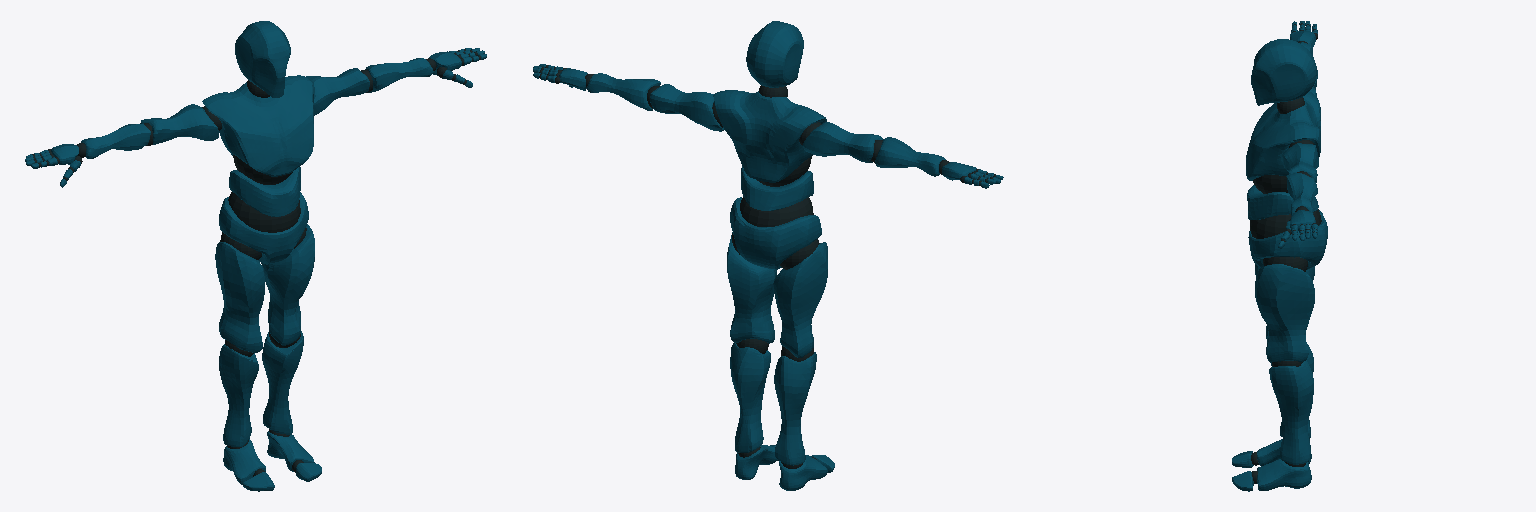
--- Facts derived from the render (not from the file) ---
3 views of the same robot in one strip: view 1: azimuth 30°, elevation 25°; view 2: azimuth 150°, elevation 25°; view 3: azimuth 270°, elevation 25° (orthographic).
Model avatar_ybot with 83 links and 82 joints (38 revolute, 44 fixed), rooted at mixamorig_Hips, posed all joints at 0.
Visible links, largest first — view 1: mixamorig_Spine2, mixamorig_RightUpLeg, mixamorig_LeftUpLeg, mixamorig_Head, mixamorig_RightLeg, mixamorig_Spine1, mixamorig_LeftLeg, mixamorig_Hips, mixamorig_RightArm, mixamorig_LeftArm, mixamorig_RightForeArm, mixamorig_LeftForeArm (+4 smaller); view 2: mixamorig_Spine2, mixamorig_RightUpLeg, mixamorig_LeftUpLeg, mixamorig_LeftLeg, mixamorig_Hips, mixamorig_RightLeg, mixamorig_Head, mixamorig_Spine1, mixamorig_RightArm, mixamorig_LeftArm, mixamorig_RightForeArm, mixamorig_LeftForeArm (+3 smaller); view 3: mixamorig_LeftUpLeg, mixamorig_Spine2, mixamorig_Head, mixamorig_LeftLeg, mixamorig_Hips, mixamorig_Spine1, mixamorig_LeftFoot, mixamorig_LeftArm, mixamorig_LeftForeArm, mixamorig_Spine.
Boxes of the visible links, left/top/right/bottom form: mixamorig_Spine2: left=202, top=75, right=313, bottom=176; mixamorig_RightUpLeg: left=215, top=232, right=264, bottom=352; mixamorig_LeftUpLeg: left=261, top=224, right=314, bottom=345; mixamorig_Head: left=235, top=21, right=290, bottom=97; mixamorig_RightLeg: left=219, top=340, right=258, bottom=446; mixamorig_Spine1: left=229, top=155, right=300, bottom=216; mixamorig_LeftLeg: left=262, top=331, right=303, bottom=434; mixamorig_Hips: left=219, top=192, right=308, bottom=264; mixamorig_RightArm: left=140, top=104, right=218, bottom=144; mixamorig_LeftArm: left=306, top=68, right=369, bottom=115; mixamorig_RightForeArm: left=81, top=123, right=152, bottom=158; mixamorig_LeftForeArm: left=361, top=58, right=433, bottom=92; mixamorig_Spine2: left=713, top=90, right=826, bottom=182; mixamorig_RightUpLeg: left=774, top=239, right=827, bottom=357; mixamorig_LeftUpLeg: left=727, top=232, right=777, bottom=343; mixamorig_LeftLeg: left=730, top=339, right=770, bottom=452; mixamorig_Hips: left=730, top=197, right=821, bottom=268; mixamorig_RightLeg: left=774, top=346, right=816, bottom=465; mixamorig_Head: left=746, top=21, right=803, bottom=87; mixamorig_Spine1: left=741, top=156, right=813, bottom=210; mixamorig_RightArm: left=802, top=122, right=882, bottom=162; mixamorig_LeftArm: left=650, top=84, right=724, bottom=131; mixamorig_RightForeArm: left=871, top=137, right=945, bottom=176; mixamorig_LeftForeArm: left=587, top=73, right=660, bottom=110; mixamorig_LeftUpLeg: left=1255, top=257, right=1314, bottom=362; mixamorig_Spine2: left=1246, top=91, right=1320, bottom=180; mixamorig_Head: left=1251, top=39, right=1316, bottom=105; mixamorig_LeftLeg: left=1269, top=360, right=1313, bottom=464; mixamorig_Hips: left=1248, top=210, right=1327, bottom=269; mixamorig_Spine1: left=1247, top=175, right=1318, bottom=219; mixamorig_LeftFoot: left=1257, top=459, right=1311, bottom=490; mixamorig_LeftArm: left=1282, top=143, right=1318, bottom=182; mixamorig_LeftForeArm: left=1287, top=171, right=1317, bottom=215; mixamorig_Spine: left=1250, top=209, right=1321, bottom=238.
Size in the robot's own frame: 1.95 by 0.3643 by 1.8 metres.
95 mesh visuals loaded from 95 distinct referenced files (95 Collada DAE).

URDF robot description (avatar_ybot):
<?xml version="1.0" ?>
<robot name="avatar_ybot">
  <joint name="mixamorig_Spine" type="fixed">
    <parent link="mixamorig_Hips"/>
    <child link="mixamorig_Spine"/>
    <origin xyz="0      0.0098  1.09595" rpy="1.57079 0      0"/>
    <axis xyz="0 0 1"/>
    <limit lower="-0.17453292519943295" upper="0.17453292519943295" effort="0.0" velocity="0.0"/>
  </joint>
  <joint name="mixamorig_Spine1" type="fixed">
    <parent link="mixamorig_Spine"/>
    <child link="mixamorig_Spine1"/>
    <origin xyz="0       0.11645 -0.01422" rpy="0 0 0"/>
    <axis xyz="0 0 1"/>
    <limit lower="-0.17453292519943295" upper="0.17453292519943295" effort="0.0" velocity="0.0"/>
  </joint>
  <joint name="mixamorig_Spine2" type="fixed">
    <parent link="mixamorig_Spine1"/>
    <child link="mixamorig_Spine2"/>
    <origin xyz="0       0.1336  -0.01626" rpy="0 0 0"/>
    <axis xyz="0 0 1"/>
    <limit lower="-0.17453292519943295" upper="0.17453292519943295" effort="0.0" velocity="0.0"/>
  </joint>
  <joint name="mixamorig_Neck" type="fixed">
    <parent link="mixamorig_Spine2"/>
    <child link="mixamorig_Neck"/>
    <origin xyz="0      0.15032 0.00792" rpy="0 0 0"/>
    <axis xyz="0 0 1"/>
    <limit lower="-1.5707963267948966" upper="1.5707963267948966" effort="0.0" velocity="0.0"/>
  </joint>
  <joint name="mixamorig_Head" type="fixed">
    <parent link="mixamorig_Neck"/>
    <child link="mixamorig_Head"/>
    <origin xyz="0      0.10321 0.03142" rpy="0 0 0"/>
    <axis xyz="0 0 1"/>
    <limit lower="-1.5707963267948966" upper="1.5707963267948966" effort="0.0" velocity="0.0"/>
  </joint>
  <joint name="mixamorig_HeadTop_End" type="fixed">
    <parent link="mixamorig_Head"/>
    <child link="mixamorig_HeadTop_End"/>
    <origin xyz="0      0.18474 0.06636" rpy="0 0 0"/>
    <axis xyz="0 0 1"/>
    <limit lower="-1.5707963267948966" upper="1.5707963267948966" effort="0.0" velocity="0.0"/>
  </joint>
  <joint name="mixamorig_LeftEye" type="fixed">
    <parent link="mixamorig_Head"/>
    <child link="mixamorig_LeftEye"/>
    <origin xyz="0.02947 0.07681 0.0912" rpy="0 0 0"/>
    <axis xyz="0 0 1"/>
    <limit lower="-1.5707963267948966" upper="1.5707963267948966" effort="0.0" velocity="0.0"/>
  </joint>
  <joint name="mixamorig_RightEye" type="fixed">
    <parent link="mixamorig_Head"/>
    <child link="mixamorig_RightEye"/>
    <origin xyz="-0.02944  0.07681  0.0912" rpy="0 0 0"/>
    <axis xyz="0 0 1"/>
    <limit lower="-1.5707963267948966" upper="1.5707963267948966" effort="0.0" velocity="0.0"/>
  </joint>
  <joint name="mixamorig_LeftShoulder" type="fixed">
    <parent link="mixamorig_Spine2"/>
    <child link="mixamorig_LeftShoulder"/>
    <origin xyz="0.06105 0.0911  0.00705" rpy="0 0 0"/>
    <axis xyz="0 1 0"/>
    <limit lower="0.0" upper="0.0" effort="0.0" velocity="0.0"/>
  </joint>
  <joint name="mixamorig_LeftArm_z" type="fixed">
    <parent link="mixamorig_LeftShoulder"/>
    <child link="mixamorig_LeftArm_JointLink1"/>
    <origin xyz="0.12655 -0.00265 -0.026" rpy="0 0 0"/>
    <axis xyz="0 0 1"/>
    <limit lower="0.0" upper="0.0" effort="1500.0" velocity="0.0"/>
  </joint>
  <joint name="mixamorig_LeftArm_x" type="fixed">
    <parent link="mixamorig_LeftArm_JointLink1"/>
    <child link="mixamorig_LeftArm_JointLink2"/>
    <origin xyz="0 0 0" rpy="0 0 0"/>
    <axis xyz="1 0 0"/>
    <limit lower="0.0" upper="0.0" effort="1500.0" velocity="0.0"/>
  </joint>
  <joint name="mixamorig_LeftArm_y" type="fixed">
    <parent link="mixamorig_LeftArm_JointLink2"/>
    <child link="mixamorig_LeftArm"/>
    <origin xyz="0 0 0" rpy="0 0 0"/>
    <axis xyz="0 1 0"/>
    <limit lower="0.0" upper="0.0" effort="1500.0" velocity="0.0"/>
  </joint>
  <joint name="mixamorig_LeftForeArm" type="revolute">
    <parent link="mixamorig_LeftArm"/>
    <child link="mixamorig_LeftForeArm"/>
    <origin xyz="0.27404 0      0" rpy="0 0 0"/>
    <axis xyz="0 0 1"/>
    <limit lower="0.0" upper="3.14" effort="600.0" velocity="0.0"/>
  </joint>
  <joint name="mixamorig_LeftHand_z" type="fixed">
    <parent link="mixamorig_LeftForeArm"/>
    <child link="mixamorig_LeftHand_JointLink1"/>
    <origin xyz="0.27614 0      0" rpy="0 0 0"/>
    <axis xyz="0 0 1"/>
    <limit lower="0.0" upper="0.0" effort="400.0" velocity="0.0"/>
  </joint>
  <joint name="mixamorig_LeftHand_x" type="fixed">
    <parent link="mixamorig_LeftHand_JointLink1"/>
    <child link="mixamorig_LeftHand_JointLink2"/>
    <origin xyz="0 0 0" rpy="0 0 0"/>
    <axis xyz="1 0 0"/>
    <limit lower="0.0" upper="0.0" effort="400.0" velocity="0.0"/>
  </joint>
  <joint name="mixamorig_LeftHand_y" type="fixed">
    <parent link="mixamorig_LeftHand_JointLink2"/>
    <child link="mixamorig_LeftHand"/>
    <origin xyz="0 0 0" rpy="0 0 0"/>
    <axis xyz="0 1 0"/>
    <limit lower="0.0" upper="0.0" effort="400.0" velocity="0.0"/>
  </joint>
  <joint name="mixamorig_LeftHandMiddle1" type="revolute">
    <parent link="mixamorig_LeftHand"/>
    <child link="mixamorig_LeftHandMiddle1"/>
    <origin xyz="0.12775 0      0" rpy="0 0 0"/>
    <axis xyz="0 1 0"/>
    <limit lower="-1.5707963267948966" upper="1.5707963267948966" effort="200.0" velocity="0.0"/>
  </joint>
  <joint name="mixamorig_LeftHandMiddle2" type="revolute">
    <parent link="mixamorig_LeftHandMiddle1"/>
    <child link="mixamorig_LeftHandMiddle2"/>
    <origin xyz="0.03614 0      0" rpy="0 0 0"/>
    <axis xyz="0 1 0"/>
    <limit lower="-1.5707963267948966" upper="1.5707963267948966" effort="200.0" velocity="0.0"/>
  </joint>
  <joint name="mixamorig_LeftHandMiddle3" type="revolute">
    <parent link="mixamorig_LeftHandMiddle2"/>
    <child link="mixamorig_LeftHandMiddle3"/>
    <origin xyz="0.03459 0      0" rpy="0 0 0"/>
    <axis xyz="0 1 0"/>
    <limit lower="-1.5707963267948966" upper="1.5707963267948966" effort="200.0" velocity="0.0"/>
  </joint>
  <joint name="mixamorig_LeftHandMiddle4" type="fixed">
    <parent link="mixamorig_LeftHandMiddle3"/>
    <child link="mixamorig_LeftHandMiddle4"/>
    <origin xyz="0.0368 0     0" rpy="0 0 0"/>
    <axis xyz="0 0 1"/>
    <limit lower="-1.5707963267948966" upper="1.5707963267948966" effort="200.0" velocity="0.0"/>
  </joint>
  <joint name="mixamorig_LeftHandThumb1_z" type="revolute">
    <parent link="mixamorig_LeftHand"/>
    <child link="mixamorig_LeftHandThumb1_JointLink1"/>
    <origin xyz="0.03788 -0.02167  0.03003" rpy="0 0 0"/>
    <axis xyz="0 0 1"/>
    <limit lower="-1.5707963267948966" upper="1.5707963267948966" effort="200.0" velocity="0.0"/>
  </joint>
  <joint name="mixamorig_LeftHandThumb1_x" type="revolute">
    <parent link="mixamorig_LeftHandThumb1_JointLink1"/>
    <child link="mixamorig_LeftHandThumb1_JointLink2"/>
    <origin xyz="0 0 0" rpy="0 0 0"/>
    <axis xyz="1 0 0"/>
    <limit lower="-1.5707963267948966" upper="1.5707963267948966" effort="200.0" velocity="0.0"/>
  </joint>
  <joint name="mixamorig_LeftHandThumb1_y" type="revolute">
    <parent link="mixamorig_LeftHandThumb1_JointLink2"/>
    <child link="mixamorig_LeftHandThumb1"/>
    <origin xyz="0 0 0" rpy="0 0 0"/>
    <axis xyz="0 1 0"/>
    <limit lower="-1.5707963267948966" upper="1.5707963267948966" effort="200.0" velocity="0.0"/>
  </joint>
  <joint name="mixamorig_LeftHandThumb2" type="revolute">
    <parent link="mixamorig_LeftHandThumb1"/>
    <child link="mixamorig_LeftHandThumb2"/>
    <origin xyz="0.03675 -0.02122  0.02122" rpy="0 0 0"/>
    <axis xyz="0 1 0"/>
    <limit lower="-1.5707963267948966" upper="1.5707963267948966" effort="200.0" velocity="0.0"/>
  </joint>
  <joint name="mixamorig_LeftHandThumb3" type="revolute">
    <parent link="mixamorig_LeftHandThumb2"/>
    <child link="mixamorig_LeftHandThumb3"/>
    <origin xyz="0.03394 -0.01959  0.01959" rpy="0 0 0"/>
    <axis xyz="0 1 0"/>
    <limit lower="-1.5707963267948966" upper="1.5707963267948966" effort="200.0" velocity="0.0"/>
  </joint>
  <joint name="mixamorig_LeftHandThumb4" type="fixed">
    <parent link="mixamorig_LeftHandThumb3"/>
    <child link="mixamorig_LeftHandThumb4"/>
    <origin xyz="0.02679 -0.01546  0.01546" rpy="0 0 0"/>
    <axis xyz="0 0 1"/>
    <limit lower="-1.5707963267948966" upper="1.5707963267948966" effort="200.0" velocity="0.0"/>
  </joint>
  <joint name="mixamorig_LeftHandIndex1" type="revolute">
    <parent link="mixamorig_LeftHand"/>
    <child link="mixamorig_LeftHandIndex1"/>
    <origin xyz="0.12266 -0.00231  0.02822" rpy="0 0 0"/>
    <axis xyz="0 1 0"/>
    <limit lower="-1.5707963267948966" upper="1.5707963267948966" effort="200.0" velocity="0.0"/>
  </joint>
  <joint name="mixamorig_LeftHandIndex2" type="revolute">
    <parent link="mixamorig_LeftHandIndex1"/>
    <child link="mixamorig_LeftHandIndex2"/>
    <origin xyz="0.03892 0      0" rpy="0 0 0"/>
    <axis xyz="0 1 0"/>
    <limit lower="-1.5707963267948966" upper="1.5707963267948966" effort="200.0" velocity="0.0"/>
  </joint>
  <joint name="mixamorig_LeftHandIndex3" type="revolute">
    <parent link="mixamorig_LeftHandIndex2"/>
    <child link="mixamorig_LeftHandIndex3"/>
    <origin xyz="0.03415 0      0" rpy="0 0 0"/>
    <axis xyz="0 1 0"/>
    <limit lower="-1.5707963267948966" upper="1.5707963267948966" effort="200.0" velocity="0.0"/>
  </joint>
  <joint name="mixamorig_LeftHandIndex4" type="fixed">
    <parent link="mixamorig_LeftHandIndex3"/>
    <child link="mixamorig_LeftHandIndex4"/>
    <origin xyz="0.03078 0      0" rpy="0 0 0"/>
    <axis xyz="0 0 1"/>
    <limit lower="-1.5707963267948966" upper="1.5707963267948966" effort="200.0" velocity="0.0"/>
  </joint>
  <joint name="mixamorig_LeftHandRing1" type="revolute">
    <parent link="mixamorig_LeftHand"/>
    <child link="mixamorig_LeftHandRing1"/>
    <origin xyz="1.2147e-01  9.0000e-05 -2.2160e-02" rpy="0 0 0"/>
    <axis xyz="0 1 0"/>
    <limit lower="-1.5707963267948966" upper="1.5707963267948966" effort="200.0" velocity="0.0"/>
  </joint>
  <joint name="mixamorig_LeftHandRing2" type="revolute">
    <parent link="mixamorig_LeftHandRing1"/>
    <child link="mixamorig_LeftHandRing2"/>
    <origin xyz="0.03601 0      0" rpy="0 0 0"/>
    <axis xyz="0 1 0"/>
    <limit lower="-1.5707963267948966" upper="1.5707963267948966" effort="200.0" velocity="0.0"/>
  </joint>
  <joint name="mixamorig_LeftHandRing3" type="revolute">
    <parent link="mixamorig_LeftHandRing2"/>
    <child link="mixamorig_LeftHandRing3"/>
    <origin xyz="0.03307 0      0" rpy="0 0 0"/>
    <axis xyz="0 1 0"/>
    <limit lower="-1.5707963267948966" upper="1.5707963267948966" effort="200.0" velocity="0.0"/>
  </joint>
  <joint name="mixamorig_LeftHandRing4" type="fixed">
    <parent link="mixamorig_LeftHandRing3"/>
    <child link="mixamorig_LeftHandRing4"/>
    <origin xyz="0.0366 0     0" rpy="0 0 0"/>
    <axis xyz="0 0 1"/>
    <limit lower="-1.5707963267948966" upper="1.5707963267948966" effort="200.0" velocity="0.0"/>
  </joint>
  <joint name="mixamorig_LeftHandPinky1" type="revolute">
    <parent link="mixamorig_LeftHand"/>
    <child link="mixamorig_LeftHandPinky1"/>
    <origin xyz="0.10908 -0.00226 -0.04725" rpy="0 0 0"/>
    <axis xyz="0 1 0"/>
    <limit lower="-1.5707963267948966" upper="1.5707963267948966" effort="200.0" velocity="0.0"/>
  </joint>
  <joint name="mixamorig_LeftHandPinky2" type="revolute">
    <parent link="mixamorig_LeftHandPinky1"/>
    <child link="mixamorig_LeftHandPinky2"/>
    <origin xyz="0.04136 0      0" rpy="0 0 0"/>
    <axis xyz="0 1 0"/>
    <limit lower="-1.5707963267948966" upper="1.5707963267948966" effort="200.0" velocity="0.0"/>
  </joint>
  <joint name="mixamorig_LeftHandPinky3" type="revolute">
    <parent link="mixamorig_LeftHandPinky2"/>
    <child link="mixamorig_LeftHandPinky3"/>
    <origin xyz="0.02594 0      0" rpy="0 0 0"/>
    <axis xyz="0 1 0"/>
    <limit lower="-1.5707963267948966" upper="1.5707963267948966" effort="200.0" velocity="0.0"/>
  </joint>
  <joint name="mixamorig_LeftHandPinky4" type="fixed">
    <parent link="mixamorig_LeftHandPinky3"/>
    <child link="mixamorig_LeftHandPinky4"/>
    <origin xyz="0.02923 0      0" rpy="0 0 0"/>
    <axis xyz="0 0 1"/>
    <limit lower="-1.5707963267948966" upper="1.5707963267948966" effort="200.0" velocity="0.0"/>
  </joint>
  <joint name="mixamorig_RightShoulder" type="fixed">
    <parent link="mixamorig_Spine2"/>
    <child link="mixamorig_RightShoulder"/>
    <origin xyz="-0.06105  0.0911   0.00705" rpy="0 0 0"/>
    <axis xyz="0 1 0"/>
    <limit lower="0.0" upper="0.0" effort="0.0" velocity="0.0"/>
  </joint>
  <joint name="mixamorig_RightArm_z" type="fixed">
    <parent link="mixamorig_RightShoulder"/>
    <child link="mixamorig_RightArm_JointLink1"/>
    <origin xyz="-0.12655 -0.00266 -0.026" rpy="0 0 0"/>
    <axis xyz="0 0 1"/>
    <limit lower="0.0" upper="0.0" effort="2000.0" velocity="0.0"/>
  </joint>
  <joint name="mixamorig_RightArm_x" type="fixed">
    <parent link="mixamorig_RightArm_JointLink1"/>
    <child link="mixamorig_RightArm_JointLink2"/>
    <origin xyz="0 0 0" rpy="0 0 0"/>
    <axis xyz="1 0 0"/>
    <limit lower="0.0" upper="0.0" effort="2000.0" velocity="0.0"/>
  </joint>
  <joint name="mixamorig_RightArm_y" type="fixed">
    <parent link="mixamorig_RightArm_JointLink2"/>
    <child link="mixamorig_RightArm"/>
    <origin xyz="0 0 0" rpy="0 0 0"/>
    <axis xyz="0 1 0"/>
    <limit lower="0.0" upper="0.0" effort="2000.0" velocity="0.0"/>
  </joint>
  <joint name="mixamorig_RightForeArm" type="revolute">
    <parent link="mixamorig_RightArm"/>
    <child link="mixamorig_RightForeArm"/>
    <origin xyz="-0.27404  0       0" rpy="0 0 0"/>
    <axis xyz="0 0 1"/>
    <limit lower="-3.14" upper="0.0" effort="800.0" velocity="0.0"/>
  </joint>
  <joint name="mixamorig_RightHand_z" type="fixed">
    <parent link="mixamorig_RightForeArm"/>
    <child link="mixamorig_RightHand_JointLink1"/>
    <origin xyz="-0.27614  0       0" rpy="0 0 0"/>
    <axis xyz="0 0 1"/>
    <limit lower="0.0" upper="0.0" effort="400.0" velocity="0.0"/>
  </joint>
  <joint name="mixamorig_RightHand_x" type="fixed">
    <parent link="mixamorig_RightHand_JointLink1"/>
    <child link="mixamorig_RightHand_JointLink2"/>
    <origin xyz="0 0 0" rpy="0 0 0"/>
    <axis xyz="1 0 0"/>
    <limit lower="0.0" upper="0.0" effort="400.0" velocity="0.0"/>
  </joint>
  <joint name="mixamorig_RightHand_y" type="fixed">
    <parent link="mixamorig_RightHand_JointLink2"/>
    <child link="mixamorig_RightHand"/>
    <origin xyz="0 0 0" rpy="0 0 0"/>
    <axis xyz="0 1 0"/>
    <limit lower="0.0" upper="0.0" effort="400.0" velocity="0.0"/>
  </joint>
  <joint name="mixamorig_RightHandMiddle1" type="revolute">
    <parent link="mixamorig_RightHand"/>
    <child link="mixamorig_RightHandMiddle1"/>
    <origin xyz="-0.12775  0       0" rpy="0 0 0"/>
    <axis xyz="0 1 0"/>
    <limit lower="-1.5707963267948966" upper="1.5707963267948966" effort="200.0" velocity="0.0"/>
  </joint>
  <joint name="mixamorig_RightHandMiddle2" type="revolute">
    <parent link="mixamorig_RightHandMiddle1"/>
    <child link="mixamorig_RightHandMiddle2"/>
    <origin xyz="-0.03614  0       0" rpy="0 0 0"/>
    <axis xyz="0 1 0"/>
    <limit lower="-1.5707963267948966" upper="1.5707963267948966" effort="200.0" velocity="0.0"/>
  </joint>
  <joint name="mixamorig_RightHandMiddle3" type="revolute">
    <parent link="mixamorig_RightHandMiddle2"/>
    <child link="mixamorig_RightHandMiddle3"/>
    <origin xyz="-0.03459  0       0" rpy="0 0 0"/>
    <axis xyz="0 1 0"/>
    <limit lower="-1.5707963267948966" upper="1.5707963267948966" effort="200.0" velocity="0.0"/>
  </joint>
  <joint name="mixamorig_RightHandMiddle4" type="fixed">
    <parent link="mixamorig_RightHandMiddle3"/>
    <child link="mixamorig_RightHandMiddle4"/>
    <origin xyz="-0.0368  0      0" rpy="0 0 0"/>
    <axis xyz="0 0 1"/>
    <limit lower="-1.5707963267948966" upper="1.5707963267948966" effort="200.0" velocity="0.0"/>
  </joint>
  <joint name="mixamorig_RightHandThumb1_z" type="revolute">
    <parent link="mixamorig_RightHand"/>
    <child link="mixamorig_RightHandThumb1_JointLink1"/>
    <origin xyz="-0.03788 -0.02167  0.03003" rpy="0 0 0"/>
    <axis xyz="0 0 1"/>
    <limit lower="-1.5707963267948966" upper="1.5707963267948966" effort="200.0" velocity="0.0"/>
  </joint>
  <joint name="mixamorig_RightHandThumb1_x" type="revolute">
    <parent link="mixamorig_RightHandThumb1_JointLink1"/>
    <child link="mixamorig_RightHandThumb1_JointLink2"/>
    <origin xyz="0 0 0" rpy="0 0 0"/>
    <axis xyz="1 0 0"/>
    <limit lower="-1.5707963267948966" upper="1.5707963267948966" effort="200.0" velocity="0.0"/>
  </joint>
  <joint name="mixamorig_RightHandThumb1_y" type="revolute">
    <parent link="mixamorig_RightHand_JointLink2"/>
    <child link="mixamorig_RightHandThumb1"/>
    <origin xyz="-0.03788 -0.02167  0.03003" rpy="0 0 0"/>
    <axis xyz="0 1 0"/>
    <limit lower="-1.5707963267948966" upper="1.5707963267948966" effort="200.0" velocity="0.0"/>
  </joint>
  <joint name="mixamorig_RightHandThumb2" type="revolute">
    <parent link="mixamorig_RightHandThumb1"/>
    <child link="mixamorig_RightHandThumb2"/>
    <origin xyz="-0.03675 -0.02122  0.02122" rpy="0 0 0"/>
    <axis xyz="0 1 0"/>
    <limit lower="-1.5707963267948966" upper="1.5707963267948966" effort="200.0" velocity="0.0"/>
  </joint>
  <joint name="mixamorig_RightHandThumb3" type="revolute">
    <parent link="mixamorig_RightHandThumb2"/>
    <child link="mixamorig_RightHandThumb3"/>
    <origin xyz="-0.03394 -0.01959  0.01959" rpy="0 0 0"/>
    <axis xyz="0 1 0"/>
    <limit lower="-1.5707963267948966" upper="1.5707963267948966" effort="200.0" velocity="0.0"/>
  </joint>
  <joint name="mixamorig_RightHandThumb4" type="fixed">
    <parent link="mixamorig_RightHandThumb3"/>
    <child link="mixamorig_RightHandThumb4"/>
    <origin xyz="-0.02679 -0.01546  0.01546" rpy="0 0 0"/>
    <axis xyz="0 0 1"/>
    <limit lower="-1.5707963267948966" upper="1.5707963267948966" effort="200.0" velocity="0.0"/>
  </joint>
  <joint name="mixamorig_RightHandIndex1" type="revolute">
    <parent link="mixamorig_RightHand"/>
    <child link="mixamorig_RightHandIndex1"/>
    <origin xyz="-0.12266 -0.00231  0.02822" rpy="0 0 0"/>
    <axis xyz="0 1 0"/>
    <limit lower="-1.5707963267948966" upper="1.5707963267948966" effort="200.0" velocity="0.0"/>
  </joint>
  <joint name="mixamorig_RightHandIndex2" type="revolute">
    <parent link="mixamorig_RightHandIndex1"/>
    <child link="mixamorig_RightHandIndex2"/>
    <origin xyz="-0.03892  0       0" rpy="0 0 0"/>
    <axis xyz="0 1 0"/>
    <limit lower="-1.5707963267948966" upper="1.5707963267948966" effort="200.0" velocity="0.0"/>
  </joint>
  <joint name="mixamorig_RightHandIndex3" type="revolute">
    <parent link="mixamorig_RightHandIndex2"/>
    <child link="mixamorig_RightHandIndex3"/>
    <origin xyz="-0.03415  0       0" rpy="0 0 0"/>
    <axis xyz="0 1 0"/>
    <limit lower="-1.5707963267948966" upper="1.5707963267948966" effort="200.0" velocity="0.0"/>
  </joint>
  <joint name="mixamorig_RightHandIndex4" type="fixed">
    <parent link="mixamorig_RightHandIndex3"/>
    <child link="mixamorig_RightHandIndex4"/>
    <origin xyz="-0.03078  0       0" rpy="0 0 0"/>
    <axis xyz="0 0 1"/>
    <limit lower="-1.5707963267948966" upper="1.5707963267948966" effort="200.0" velocity="0.0"/>
  </joint>
  <joint name="mixamorig_RightHandRing1" type="revolute">
    <parent link="mixamorig_RightHand"/>
    <child link="mixamorig_RightHandRing1"/>
    <origin xyz="-1.2147e-01  9.0000e-05 -2.2160e-02" rpy="0 0 0"/>
    <axis xyz="0 1 0"/>
    <limit lower="-1.5707963267948966" upper="1.5707963267948966" effort="200.0" velocity="0.0"/>
  </joint>
  <joint name="mixamorig_RightHandRing2" type="revolute">
    <parent link="mixamorig_RightHandRing1"/>
    <child link="mixamorig_RightHandRing2"/>
    <origin xyz="-0.03601  0       0" rpy="0 0 0"/>
    <axis xyz="0 1 0"/>
    <limit lower="-1.5707963267948966" upper="1.5707963267948966" effort="200.0" velocity="0.0"/>
  </joint>
  <joint name="mixamorig_RightHandRing3" type="revolute">
    <parent link="mixamorig_RightHandRing2"/>
    <child link="mixamorig_RightHandRing3"/>
    <origin xyz="-0.03307  0       0" rpy="0 0 0"/>
    <axis xyz="0 1 0"/>
    <limit lower="-1.5707963267948966" upper="1.5707963267948966" effort="200.0" velocity="0.0"/>
  </joint>
  <joint name="mixamorig_RightHandRing4" type="fixed">
    <parent link="mixamorig_RightHandRing3"/>
    <child link="mixamorig_RightHandRing4"/>
    <origin xyz="-0.0366  0      0" rpy="0 0 0"/>
    <axis xyz="0 0 1"/>
    <limit lower="-1.5707963267948966" upper="1.5707963267948966" effort="200.0" velocity="0.0"/>
  </joint>
  <joint name="mixamorig_RightHandPinky1" type="revolute">
    <parent link="mixamorig_RightHand"/>
    <child link="mixamorig_RightHandPinky1"/>
    <origin xyz="-0.10908 -0.00226 -0.04725" rpy="0 0 0"/>
    <axis xyz="0 1 0"/>
    <limit lower="-1.5707963267948966" upper="1.5707963267948966" effort="200.0" velocity="0.0"/>
  </joint>
  <joint name="mixamorig_RightHandPinky2" type="revolute">
    <parent link="mixamorig_RightHandPinky1"/>
    <child link="mixamorig_RightHandPinky2"/>
    <origin xyz="-0.04136  0       0" rpy="0 0 0"/>
    <axis xyz="0 1 0"/>
    <limit lower="-1.5707963267948966" upper="1.5707963267948966" effort="200.0" velocity="0.0"/>
  </joint>
  <joint name="mixamorig_RightHandPinky3" type="revolute">
    <parent link="mixamorig_RightHandPinky2"/>
    <child link="mixamorig_RightHandPinky3"/>
    <origin xyz="-0.02594  0       0" rpy="0 0 0"/>
    <axis xyz="0 1 0"/>
    <limit lower="-1.5707963267948966" upper="1.5707963267948966" effort="200.0" velocity="0.0"/>
  </joint>
  <joint name="mixamorig_RightHandPinky4" type="fixed">
    <parent link="mixamorig_RightHandPinky3"/>
    <child link="mixamorig_RightHandPinky4"/>
    <origin xyz="-0.02923  0       0" rpy="0 0 0"/>
    <axis xyz="0 0 1"/>
    <limit lower="-1.5707963267948966" upper="1.5707963267948966" effort="200.0" velocity="0.0"/>
  </joint>
  <joint name="mixamorig_RightUpLeg_z" type="fixed">
    <parent link="mixamorig_Hips"/>
    <child link="mixamorig_RightUpLeg_JointLink1"/>
    <origin xyz="-0.09124 -0.00191  0.93015" rpy="1.57079 0      0"/>
    <axis xyz="0 0 1"/>
    <limit lower="0.0" upper="0.0" effort="1500.0" velocity="0.0"/>
  </joint>
  <joint name="mixamorig_RightUpLeg_x" type="fixed">
    <parent link="mixamorig_RightUpLeg_JointLink1"/>
    <child link="mixamorig_RightUpLeg_JointLink2"/>
    <origin xyz="0 0 0" rpy="0 0 0"/>
    <axis xyz="1 0 0"/>
    <limit lower="0.0" upper="0.0" effort="1500.0" velocity="0.0"/>
  </joint>
  <joint name="mixamorig_RightUpLeg_y" type="fixed">
    <parent link="mixamorig_RightUpLeg_JointLink2"/>
    <child link="mixamorig_RightUpLeg"/>
    <origin xyz="0 0 0" rpy="0 0 0"/>
    <axis xyz="0 1 0"/>
    <limit lower="0.0" upper="0.0" effort="1500.0" velocity="0.0"/>
  </joint>
  <joint name="mixamorig_RightLeg" type="revolute">
    <parent link="mixamorig_RightUpLeg"/>
    <child link="mixamorig_RightLeg"/>
    <origin xyz="-0.00244 -0.40595 -0.00514" rpy="0 0 0"/>
    <axis xyz="1 0 0"/>
    <limit lower="-1.5707963267948966" upper="1.5707963267948966" effort="800.0" velocity="0.0"/>
  </joint>
  <joint name="mixamorig_RightFoot" type="fixed">
    <parent link="mixamorig_RightLeg"/>
    <child link="mixamorig_RightFoot"/>
    <origin xyz="0.00244 -0.42047 -0.0206" rpy="0 0 0"/>
    <axis xyz="0 0 1"/>
    <limit lower="0.0" upper="0.0" effort="0.0" velocity="0.0"/>
  </joint>
  <joint name="mixamorig_RightToeBase" type="fixed">
    <parent link="mixamorig_RightFoot"/>
    <child link="mixamorig_RightToeBase"/>
    <origin xyz="-0.00373 -0.10492  0.1264" rpy="0 0 0"/>
    <axis xyz="1 0 0"/>
    <limit lower="-1.5707963267948966" upper="1.5707963267948966" effort="0.0" velocity="0.0"/>
  </joint>
  <joint name="mixamorig_RightToe_End" type="fixed">
    <parent link="mixamorig_RightToeBase"/>
    <child link="mixamorig_RightToe_End"/>
    <origin xyz="0      0      0.09992" rpy="0 0 0"/>
    <axis xyz="0 0 1"/>
    <limit lower="-1.5707963267948966" upper="1.5707963267948966" effort="0.0" velocity="0.0"/>
  </joint>
  <joint name="mixamorig_LeftUpLeg_z" type="fixed">
    <parent link="mixamorig_Hips"/>
    <child link="mixamorig_LeftUpLeg_JointLink1"/>
    <origin xyz="0.09124 -0.00191  0.93015" rpy="1.57079 0      0"/>
    <axis xyz="0 0 1"/>
    <limit lower="0.0" upper="0.0" effort="800.0" velocity="0.0"/>
  </joint>
  <joint name="mixamorig_LeftUpLeg_x" type="fixed">
    <parent link="mixamorig_LeftUpLeg_JointLink1"/>
    <child link="mixamorig_LeftUpLeg_JointLink2"/>
    <origin xyz="0 0 0" rpy="0 0 0"/>
    <axis xyz="1 0 0"/>
    <limit lower="0.0" upper="0.0" effort="800.0" velocity="0.0"/>
  </joint>
  <joint name="mixamorig_LeftUpLeg_y" type="fixed">
    <parent link="mixamorig_LeftUpLeg_JointLink2"/>
    <child link="mixamorig_LeftUpLeg"/>
    <origin xyz="0 0 0" rpy="0 0 0"/>
    <axis xyz="0 1 0"/>
    <limit lower="0.0" upper="0.0" effort="800.0" velocity="0.0"/>
  </joint>
  <joint name="mixamorig_LeftLeg" type="revolute">
    <parent link="mixamorig_LeftUpLeg"/>
    <child link="mixamorig_LeftLeg"/>
    <origin xyz="0.00244 -0.40595 -0.00517" rpy="0 0 0"/>
    <axis xyz="1 0 0"/>
    <limit lower="-1.5707963267948966" upper="1.5707963267948966" effort="800.0" velocity="0.0"/>
  </joint>
  <joint name="mixamorig_LeftFoot" type="fixed">
    <parent link="mixamorig_LeftLeg"/>
    <child link="mixamorig_LeftFoot"/>
    <origin xyz="-0.00244 -0.42048 -0.02057" rpy="0 0 0"/>
    <axis xyz="0 0 1"/>
    <limit lower="0.0" upper="0.0" effort="0.0" velocity="0.0"/>
  </joint>
  <joint name="mixamorig_LeftToeBase" type="fixed">
    <parent link="mixamorig_LeftFoot"/>
    <child link="mixamorig_LeftToeBase"/>
    <origin xyz="0.00373 -0.10492  0.1264" rpy="0 0 0"/>
    <axis xyz="1 0 0"/>
    <limit lower="-1.5707963267948966" upper="1.5707963267948966" effort="0.0" velocity="0.0"/>
  </joint>
  <joint name="mixamorig_LeftToe_End" type="fixed">
    <parent link="mixamorig_LeftToeBase"/>
    <child link="mixamorig_LeftToe_End"/>
    <origin xyz="0      0      0.09992" rpy="0 0 0"/>
    <axis xyz="0 0 1"/>
    <limit lower="-1.5707963267948966" upper="1.5707963267948966" effort="0.0" velocity="0.0"/>
  </joint>
  <link name="mixamorig_Hips">
    <inertial>
      <mass value="5.0"/>
      <origin xyz="0 0 0" rpy="0 0 0"/>
      <inertia ixx="1.0" ixy="0.0" ixz="0.0" iyy="1.0" iyz="0.0" izz="1.0"/>
    </inertial>
    <collision name="COL_Alpha_Surface.009_convex_hull">
      <origin xyz="0 0 0" rpy="1.57079 0      0"/>
      <geometry>
        <mesh filename="package://user_avatar_ybot/meshes/collisions/COL_Alpha_Surface_009_convex_hull.dae" scale="0.009999999776482582 0.009999999776482582 0.009999999776482582"/>
      </geometry>
    </collision>
    <visual name="VIS_Alpha_Surface.009">
      <origin xyz="0 0 0" rpy="1.57079 0      0"/>
      <geometry>
        <mesh filename="package://user_avatar_ybot/meshes/visual/VIS_Alpha_Surface_009.dae" scale="0.009999999776482582 0.009999999776482582 0.009999999776482582"/>
      </geometry>
    </visual>
  </link>
  <link name="mixamorig_Spine">
    <inertial>
      <mass value="5.0"/>
      <origin xyz="0 0 0" rpy="0 0 0"/>
      <inertia ixx="1.0" ixy="0.0" ixz="0.0" iyy="1.0" iyz="0.0" izz="1.0"/>
    </inertial>
    <collision name="COL_Alpha_Joints.001_convex_hull">
      <origin xyz="0      -1.09595  0.0098" rpy="0 0 0"/>
      <geometry>
        <mesh filename="package://user_avatar_ybot/meshes/collisions/COL_Alpha_Joints_001_convex_hull.dae" scale="0.009999999776482582 0.009999999776482582 0.009999999776482582"/>
      </geometry>
    </collision>
    <visual name="VIS_Alpha_Joints">
      <origin xyz="0      -1.09595  0.0098" rpy="0 0 0"/>
      <geometry>
        <mesh filename="package://user_avatar_ybot/meshes/visual/VIS_Alpha_Joints.dae" scale="0.009999999776482582 0.009999999776482582 0.009999999776482582"/>
      </geometry>
    </visual>
  </link>
  <link name="mixamorig_Spine1">
    <inertial>
      <mass value="5.0"/>
      <origin xyz="0 0 0" rpy="0 0 0"/>
      <inertia ixx="1.0" ixy="0.0" ixz="0.0" iyy="1.0" iyz="0.0" izz="1.0"/>
    </inertial>
    <collision name="COL_Alpha_Joints.002_convex_hull">
      <origin xyz="0      -1.21241  0.02402" rpy="0 0 0"/>
      <geometry>
        <mesh filename="package://user_avatar_ybot/meshes/collisions/COL_Alpha_Joints_002_convex_hull.dae" scale="0.009999999776482582 0.009999999776482582 0.009999999776482582"/>
      </geometry>
    </collision>
    <collision name="COL_Alpha_Surface.010_convex_hull">
      <origin xyz="0      -1.21241  0.02402" rpy="0 0 0"/>
      <geometry>
        <mesh filename="package://user_avatar_ybot/meshes/collisions/COL_Alpha_Surface_010_convex_hull.dae" scale="0.009999999776482582 0.009999999776482582 0.009999999776482582"/>
      </geometry>
    </collision>
    <visual name="VIS_Alpha_Joints.002">
      <origin xyz="0      -1.21241  0.02402" rpy="0 0 0"/>
      <geometry>
        <mesh filename="package://user_avatar_ybot/meshes/visual/VIS_Alpha_Joints_002.dae" scale="0.009999999776482582 0.009999999776482582 0.009999999776482582"/>
      </geometry>
    </visual>
    <visual name="VIS_Alpha_Surface.010">
      <origin xyz="0      -1.21241  0.02402" rpy="0 0 0"/>
      <geometry>
        <mesh filename="package://user_avatar_ybot/meshes/visual/VIS_Alpha_Surface_010.dae" scale="0.009999999776482582 0.009999999776482582 0.009999999776482582"/>
      </geometry>
    </visual>
  </link>
  <link name="mixamorig_Spine2">
    <inertial>
      <mass value="5.0"/>
      <origin xyz="0 0 0" rpy="0 0 0"/>
      <inertia ixx="1.0" ixy="0.0" ixz="0.0" iyy="1.0" iyz="0.0" izz="1.0"/>
    </inertial>
    <collision name="COL_Alpha_Surface.011_convex_hull">
      <origin xyz="0      -1.34601  0.04029" rpy="0 0 0"/>
      <geometry>
        <mesh filename="package://user_avatar_ybot/meshes/collisions/COL_Alpha_Surface_011_convex_hull.dae" scale="0.009999999776482582 0.009999999776482582 0.009999999776482582"/>
      </geometry>
    </collision>
    <visual name="VIS_Alpha_Surface.011">
      <origin xyz="0      -1.34601  0.04029" rpy="0 0 0"/>
      <geometry>
        <mesh filename="package://user_avatar_ybot/meshes/visual/VIS_Alpha_Surface_011.dae" scale="0.009999999776482582 0.009999999776482582 0.009999999776482582"/>
      </geometry>
    </visual>
  </link>
  <link name="mixamorig_Neck">
    <inertial>
      <mass value="5.0"/>
      <origin xyz="0 0 0" rpy="0 0 0"/>
      <inertia ixx="1.0" ixy="0.0" ixz="0.0" iyy="1.0" iyz="0.0" izz="1.0"/>
    </inertial>
    <collision name="COL_Alpha_Joints.003_convex_hull">
      <origin xyz="0      -1.49633  0.03236" rpy="0 0 0"/>
      <geometry>
        <mesh filename="package://user_avatar_ybot/meshes/collisions/COL_Alpha_Joints_003_convex_hull.dae" scale="0.009999999776482582 0.009999999776482582 0.009999999776482582"/>
      </geometry>
    </collision>
    <visual name="VIS_Alpha_Joints.003">
      <origin xyz="0      -1.49633  0.03236" rpy="0 0 0"/>
      <geometry>
        <mesh filename="package://user_avatar_ybot/meshes/visual/VIS_Alpha_Joints_003.dae" scale="0.009999999776482582 0.009999999776482582 0.009999999776482582"/>
      </geometry>
    </visual>
  </link>
  <link name="mixamorig_Head">
    <inertial>
      <mass value="5.0"/>
      <origin xyz="0 0 0" rpy="0 0 0"/>
      <inertia ixx="1.0" ixy="0.0" ixz="0.0" iyy="1.0" iyz="0.0" izz="1.0"/>
    </inertial>
    <collision name="COL_Alpha_Surface.012_convex_hull">
      <origin xyz="0.00000e+00 -1.59955e+00  9.30000e-04" rpy="0 0 0"/>
      <geometry>
        <mesh filename="package://user_avatar_ybot/meshes/collisions/COL_Alpha_Surface_012_convex_hull.dae" scale="0.009999999776482582 0.009999999776482582 0.009999999776482582"/>
      </geometry>
    </collision>
    <visual name="VIS_Alpha_Surface.012">
      <origin xyz="0.00000e+00 -1.59955e+00  9.30000e-04" rpy="0 0 0"/>
      <geometry>
        <mesh filename="package://user_avatar_ybot/meshes/visual/VIS_Alpha_Surface_012.dae" scale="0.009999999776482582 0.009999999776482582 0.009999999776482582"/>
      </geometry>
    </visual>
  </link>
  <link name="mixamorig_HeadTop_End">
    <inertial>
      <mass value="0.05"/>
      <origin xyz="0 0 0" rpy="0 0 0"/>
      <inertia ixx="1.0" ixy="0.0" ixz="0.0" iyy="1.0" iyz="0.0" izz="1.0"/>
    </inertial>
  </link>
  <link name="mixamorig_LeftEye">
    <inertial>
      <mass value="0.05"/>
      <origin xyz="0 0 0" rpy="0 0 0"/>
      <inertia ixx="1.0" ixy="0.0" ixz="0.0" iyy="1.0" iyz="0.0" izz="1.0"/>
    </inertial>
  </link>
  <link name="mixamorig_RightEye">
    <inertial>
      <mass value="0.05"/>
      <origin xyz="0 0 0" rpy="0 0 0"/>
      <inertia ixx="1.0" ixy="0.0" ixz="0.0" iyy="1.0" iyz="0.0" izz="1.0"/>
    </inertial>
  </link>
  <link name="mixamorig_LeftShoulder">
    <inertial>
      <mass value="1.0"/>
      <origin xyz="0 0 0" rpy="0 0 0"/>
      <inertia ixx="1.0" ixy="0.0" ixz="0.0" iyy="1.0" iyz="0.0" izz="1.0"/>
    </inertial>
    <collision name="COL_Alpha_Joints.008_convex_hull">
      <origin xyz="-0.06105 -1.43711  0.03323" rpy="0 0 0"/>
      <geometry>
        <mesh filename="package://user_avatar_ybot/meshes/collisions/COL_Alpha_Joints_008_convex_hull.dae" scale="0.009999999776482582 0.009999998845160007 0.009999999776482582"/>
      </geometry>
    </collision>
    <visual name="VIS_Alpha_Joints.008">
      <origin xyz="-0.06105 -1.43711  0.03323" rpy="0 0 0"/>
      <geometry>
        <mesh filename="package://user_avatar_ybot/meshes/visual/VIS_Alpha_Joints_008.dae" scale="0.009999999776482582 0.009999999776482582 0.009999999776482582"/>
      </geometry>
    </visual>
  </link>
  <link name="mixamorig_LeftArm">
    <inertial>
      <mass value="2.63"/>
      <origin xyz="0 0 0" rpy="0 0 0"/>
      <inertia ixx="1.0" ixy="0.0" ixz="0.0" iyy="1.0" iyz="0.0" izz="1.0"/>
    </inertial>
    <collision name="COL_Alpha_Surface.013_convex_hull">
      <origin xyz="-0.1876  -1.43445  0.05924" rpy="0 0 0"/>
      <geometry>
        <mesh filename="package://user_avatar_ybot/meshes/collisions/COL_Alpha_Surface_013_convex_hull.dae" scale="0.009999999776482582 0.009999998845160007 0.009999999776482582"/>
      </geometry>
    </collision>
    <visual name="VIS_Alpha_Surface.013">
      <origin xyz="-0.1876  -1.43445  0.05924" rpy="0 0 0"/>
      <geometry>
        <mesh filename="package://user_avatar_ybot/meshes/visual/VIS_Alpha_Surface_013.dae" scale="0.009999999776482582 0.009999999776482582 0.009999999776482582"/>
      </geometry>
    </visual>
  </link>
  <link name="mixamorig_LeftArm_JointLink1">
    <inertial>
      <mass value="0.01"/>
      <origin xyz="0 0 0" rpy="0 0 0"/>
      <inertia ixx="1.0" ixy="0.0" ixz="0.0" iyy="1.0" iyz="0.0" izz="1.0"/>
    </inertial>
  </link>
  <link name="mixamorig_LeftArm_JointLink2">
    <inertial>
      <mass value="0.01"/>
      <origin xyz="0 0 0" rpy="0 0 0"/>
      <inertia ixx="1.0" ixy="0.0" ixz="0.0" iyy="1.0" iyz="0.0" izz="1.0"/>
    </inertial>
  </link>
  <link name="mixamorig_LeftForeArm">
    <inertial>
      <mass value="1.82"/>
      <origin xyz="0 0 0" rpy="0 0 0"/>
      <inertia ixx="1.0" ixy="0.0" ixz="0.0" iyy="1.0" iyz="0.0" izz="1.0"/>
    </inertial>
    <collision name="COL_Alpha_Surface.014_convex_hull">
      <origin xyz="-0.46165 -1.43445  0.05924" rpy="0 0 0"/>
      <geometry>
        <mesh filename="package://user_avatar_ybot/meshes/collisions/COL_Alpha_Surface_014_convex_hull.dae" scale="0.009999999776482582 0.009999999776482582 0.009999999776482582"/>
      </geometry>
    </collision>
    <collision name="COL_Alpha_Joints.009_convex_hull">
      <origin xyz="-0.46165 -1.43445  0.05924" rpy="0 0 0"/>
      <geometry>
        <mesh filename="package://user_avatar_ybot/meshes/collisions/COL_Alpha_Joints_009_convex_hull.dae" scale="0.009999999776482582 0.009999999776482582 0.009999999776482582"/>
      </geometry>
    </collision>
    <visual name="VIS_Alpha_Surface.014">
      <origin xyz="-0.46165 -1.43445  0.05924" rpy="0 0 0"/>
      <geometry>
        <mesh filename="package://user_avatar_ybot/meshes/visual/VIS_Alpha_Surface_014.dae" scale="0.009999999776482582 0.009999999776482582 0.009999999776482582"/>
      </geometry>
    </visual>
    <visual name="VIS_Alpha_Joints.009">
      <origin xyz="-0.46165 -1.43445  0.05924" rpy="0 0 0"/>
      <geometry>
        <mesh filename="package://user_avatar_ybot/meshes/visual/VIS_Alpha_Joints_009.dae" scale="0.009999999776482582 0.009999999776482582 0.009999999776482582"/>
      </geometry>
    </visual>
  </link>
  <link name="mixamorig_LeftHand">
    <inertial>
      <mass value="0.2"/>
      <origin xyz="0 0 0" rpy="0 0 0"/>
      <inertia ixx="1.0" ixy="0.0" ixz="0.0" iyy="1.0" iyz="0.0" izz="1.0"/>
    </inertial>
    <collision name="COL_Alpha_Surface.015_convex_hull">
      <origin xyz="-0.7378  -1.43445  0.05924" rpy="0 0 0"/>
      <geometry>
        <mesh filename="package://user_avatar_ybot/meshes/collisions/COL_Alpha_Surface_015_convex_hull.dae" scale="0.009999999776482582 0.009999999776482582 0.009999999776482582"/>
      </geometry>
    </collision>
    <collision name="COL_Alpha_Joints.010_convex_hull">
      <origin xyz="-0.7378  -1.43445  0.05924" rpy="0 0 0"/>
      <geometry>
        <mesh filename="package://user_avatar_ybot/meshes/collisions/COL_Alpha_Joints_010_convex_hull.dae" scale="0.009999999776482582 0.009999999776482582 0.009999999776482582"/>
      </geometry>
    </collision>
    <visual name="VIS_Alpha_Surface.015">
      <origin xyz="-0.7378  -1.43445  0.05924" rpy="0 0 0"/>
      <geometry>
        <mesh filename="package://user_avatar_ybot/meshes/visual/VIS_Alpha_Surface_015.dae" scale="0.009999999776482582 0.009999999776482582 0.009999999776482582"/>
      </geometry>
    </visual>
    <visual name="VIS_Alpha_Joints.010">
      <origin xyz="-0.7378  -1.43445  0.05924" rpy="0 0 0"/>
      <geometry>
        <mesh filename="package://user_avatar_ybot/meshes/visual/VIS_Alpha_Joints_010.dae" scale="0.009999999776482582 0.009999999776482582 0.009999999776482582"/>
      </geometry>
    </visual>
  </link>
  <link name="mixamorig_LeftHand_JointLink1">
    <inertial>
      <mass value="0.2"/>
      <origin xyz="0 0 0" rpy="0 0 0"/>
      <inertia ixx="1.0" ixy="0.0" ixz="0.0" iyy="1.0" iyz="0.0" izz="1.0"/>
    </inertial>
  </link>
  <link name="mixamorig_LeftHand_JointLink2">
    <inertial>
      <mass value="0.2"/>
      <origin xyz="0 0 0" rpy="0 0 0"/>
      <inertia ixx="1.0" ixy="0.0" ixz="0.0" iyy="1.0" iyz="0.0" izz="1.0"/>
    </inertial>
  </link>
  <link name="mixamorig_LeftHandMiddle1">
    <inertial>
      <mass value="0.05"/>
      <origin xyz="0 0 0" rpy="0 0 0"/>
      <inertia ixx="1.0" ixy="0.0" ixz="0.0" iyy="1.0" iyz="0.0" izz="1.0"/>
    </inertial>
    <collision name="COL_Alpha_Surface.020_convex_hull">
      <origin xyz="-0.86555 -1.43445  0.05924" rpy="0 0 0"/>
      <geometry>
        <mesh filename="package://user_avatar_ybot/meshes/collisions/COL_Alpha_Surface_020_convex_hull.dae" scale="0.009999999776482582 0.009999998845160007 0.009999999776482582"/>
      </geometry>
    </collision>
    <collision name="COL_Alpha_Joints.017_convex_hull">
      <origin xyz="-0.86555 -1.43445  0.05924" rpy="0 0 0"/>
      <geometry>
        <mesh filename="package://user_avatar_ybot/meshes/collisions/COL_Alpha_Joints_017_convex_hull.dae" scale="0.009999999776482582 0.009999998845160007 0.009999999776482582"/>
      </geometry>
    </collision>
    <visual name="VIS_Alpha_Surface.020">
      <origin xyz="-0.86555 -1.43445  0.05924" rpy="0 0 0"/>
      <geometry>
        <mesh filename="package://user_avatar_ybot/meshes/visual/VIS_Alpha_Surface_020.dae" scale="0.009999999776482582 0.009999999776482582 0.009999999776482582"/>
      </geometry>
    </visual>
    <visual name="VIS_Alpha_Joints.017">
      <origin xyz="-0.86555 -1.43445  0.05924" rpy="0 0 0"/>
      <geometry>
        <mesh filename="package://user_avatar_ybot/meshes/visual/VIS_Alpha_Joints_017.dae" scale="0.009999999776482582 0.009999999776482582 0.009999999776482582"/>
      </geometry>
    </visual>
  </link>
  <link name="mixamorig_LeftHandMiddle2">
    <inertial>
      <mass value="0.05"/>
      <origin xyz="0 0 0" rpy="0 0 0"/>
      <inertia ixx="1.0" ixy="0.0" ixz="0.0" iyy="1.0" iyz="0.0" izz="1.0"/>
    </inertial>
    <collision name="COL_Alpha_Surface.025_convex_hull">
      <origin xyz="-0.90169 -1.43445  0.05924" rpy="0 0 0"/>
      <geometry>
        <mesh filename="package://user_avatar_ybot/meshes/collisions/COL_Alpha_Surface_025_convex_hull.dae" scale="0.009999999776482582 0.009999999776482582 0.009999999776482582"/>
      </geometry>
    </collision>
    <collision name="COL_Alpha_Joints.018_convex_hull">
      <origin xyz="-0.90169 -1.43445  0.05924" rpy="0 0 0"/>
      <geometry>
        <mesh filename="package://user_avatar_ybot/meshes/collisions/COL_Alpha_Joints_018_convex_hull.dae" scale="0.009999999776482582 0.009999999776482582 0.009999999776482582"/>
      </geometry>
    </collision>
    <visual name="VIS_Alpha_Surface.025">
      <origin xyz="-0.90169 -1.43445  0.05924" rpy="0 0 0"/>
      <geometry>
        <mesh filename="package://user_avatar_ybot/meshes/visual/VIS_Alpha_Surface_025.dae" scale="0.009999999776482582 0.009999999776482582 0.009999999776482582"/>
      </geometry>
    </visual>
    <visual name="VIS_Alpha_Joints.018">
      <origin xyz="-0.90169 -1.43445  0.05924" rpy="0 0 0"/>
      <geometry>
        <mesh filename="package://user_avatar_ybot/meshes/visual/VIS_Alpha_Joints_018.dae" scale="0.009999999776482582 0.009999999776482582 0.009999999776482582"/>
      </geometry>
    </visual>
  </link>
  <link name="mixamorig_LeftHandMiddle3">
    <inertial>
      <mass value="0.05"/>
      <origin xyz="0 0 0" rpy="0 0 0"/>
      <inertia ixx="1.0" ixy="0.0" ixz="0.0" iyy="1.0" iyz="0.0" izz="1.0"/>
    </inertial>
    <collision name="COL_Alpha_Surface.028_convex_hull">
      <origin xyz="-0.93629 -1.43445  0.05924" rpy="0 0 0"/>
      <geometry>
        <mesh filename="package://user_avatar_ybot/meshes/collisions/COL_Alpha_Surface_028_convex_hull.dae" scale="0.009999999776482582 0.009999999776482582 0.009999999776482582"/>
      </geometry>
    </collision>
    <collision name="COL_Alpha_Joints.019_convex_hull">
      <origin xyz="-0.93629 -1.43445  0.05924" rpy="0 0 0"/>
      <geometry>
        <mesh filename="package://user_avatar_ybot/meshes/collisions/COL_Alpha_Joints_019_convex_hull.dae" scale="0.009999999776482582 0.009999999776482582 0.009999999776482582"/>
      </geometry>
    </collision>
    <visual name="VIS_Alpha_Surface.028">
      <origin xyz="-0.93629 -1.43445  0.05924" rpy="0 0 0"/>
      <geometry>
        <mesh filename="package://user_avatar_ybot/meshes/visual/VIS_Alpha_Surface_028.dae" scale="0.009999999776482582 0.009999999776482582 0.009999999776482582"/>
      </geometry>
    </visual>
    <visual name="VIS_Alpha_Joints.019">
      <origin xyz="-0.93629 -1.43445  0.05924" rpy="0 0 0"/>
      <geometry>
        <mesh filename="package://user_avatar_ybot/meshes/visual/VIS_Alpha_Joints_019.dae" scale="0.009999999776482582 0.009999999776482582 0.009999999776482582"/>
      </geometry>
    </visual>
  </link>
  <link name="mixamorig_LeftHandMiddle4">
    <inertial>
      <mass value="0.05"/>
      <origin xyz="0 0 0" rpy="0 0 0"/>
      <inertia ixx="1.0" ixy="0.0" ixz="0.0" iyy="1.0" iyz="0.0" izz="1.0"/>
    </inertial>
  </link>
  <link name="mixamorig_LeftHandThumb1">
    <inertial>
      <mass value="0.05"/>
      <origin xyz="0 0 0" rpy="0 0 0"/>
      <inertia ixx="1.0" ixy="0.0" ixz="0.0" iyy="1.0" iyz="0.0" izz="1.0"/>
    </inertial>
    <collision name="COL_Alpha_Surface.016_convex_hull">
      <origin xyz="-0.77568 -1.41278  0.02921" rpy="0 0 0"/>
      <geometry>
        <mesh filename="package://user_avatar_ybot/meshes/collisions/COL_Alpha_Surface_016_convex_hull.dae" scale="0.009999999776482582 0.009999998845160007 0.009999999776482582"/>
      </geometry>
    </collision>
    <collision name="COL_Alpha_Joints.013_convex_hull">
      <origin xyz="-0.77568 -1.41278  0.02921" rpy="0 0 0"/>
      <geometry>
        <mesh filename="package://user_avatar_ybot/meshes/collisions/COL_Alpha_Joints_013_convex_hull.dae" scale="0.009999999776482582 0.009999998845160007 0.009999999776482582"/>
      </geometry>
    </collision>
    <visual name="VIS_Alpha_Surface.016">
      <origin xyz="-0.77568 -1.41278  0.02921" rpy="0 0 0"/>
      <geometry>
        <mesh filename="package://user_avatar_ybot/meshes/visual/VIS_Alpha_Surface_016.dae" scale="0.009999999776482582 0.009999999776482582 0.009999999776482582"/>
      </geometry>
    </visual>
    <visual name="VIS_Alpha_Joints.013">
      <origin xyz="-0.77568 -1.41278  0.02921" rpy="0 0 0"/>
      <geometry>
        <mesh filename="package://user_avatar_ybot/meshes/visual/VIS_Alpha_Joints_013.dae" scale="0.009999999776482582 0.009999999776482582 0.009999999776482582"/>
      </geometry>
    </visual>
  </link>
  <link name="mixamorig_LeftHandThumb1_JointLink1">
    <inertial>
      <mass value="0.05"/>
      <origin xyz="0 0 0" rpy="0 0 0"/>
      <inertia ixx="1.0" ixy="0.0" ixz="0.0" iyy="1.0" iyz="0.0" izz="1.0"/>
    </inertial>
  </link>
  <link name="mixamorig_LeftHandThumb1_JointLink2">
    <inertial>
      <mass value="0.05"/>
      <origin xyz="0 0 0" rpy="0 0 0"/>
      <inertia ixx="1.0" ixy="0.0" ixz="0.0" iyy="1.0" iyz="0.0" izz="1.0"/>
    </inertial>
  </link>
  <link name="mixamorig_LeftHandThumb2">
    <inertial>
      <mass value="0.05"/>
      <origin xyz="0 0 0" rpy="0 0 0"/>
      <inertia ixx="1.0" ixy="0.0" ixz="0.0" iyy="1.0" iyz="0.0" izz="1.0"/>
    </inertial>
    <collision name="COL_Alpha_Surface.017_convex_hull">
      <origin xyz="-0.81244 -1.39156  0.00799" rpy="0 0 0"/>
      <geometry>
        <mesh filename="package://user_avatar_ybot/meshes/collisions/COL_Alpha_Surface_017_convex_hull.dae" scale="0.009999999776482582 0.009999999776482582 0.009999999776482582"/>
      </geometry>
    </collision>
    <collision name="COL_Alpha_Joints.012_convex_hull">
      <origin xyz="-0.81244 -1.39156  0.00799" rpy="0 0 0"/>
      <geometry>
        <mesh filename="package://user_avatar_ybot/meshes/collisions/COL_Alpha_Joints_012_convex_hull.dae" scale="0.009999999776482582 0.009999999776482582 0.009999999776482582"/>
      </geometry>
    </collision>
    <visual name="VIS_Alpha_Surface.017">
      <origin xyz="-0.81244 -1.39156  0.00799" rpy="0 0 0"/>
      <geometry>
        <mesh filename="package://user_avatar_ybot/meshes/visual/VIS_Alpha_Surface_017.dae" scale="0.009999999776482582 0.009999999776482582 0.009999999776482582"/>
      </geometry>
    </visual>
    <visual name="VIS_Alpha_Joints.012">
      <origin xyz="-0.81244 -1.39156  0.00799" rpy="0 0 0"/>
      <geometry>
        <mesh filename="package://user_avatar_ybot/meshes/visual/VIS_Alpha_Joints_012.dae" scale="0.009999999776482582 0.009999999776482582 0.009999999776482582"/>
      </geometry>
    </visual>
  </link>
  <link name="mixamorig_LeftHandThumb3">
    <inertial>
      <mass value="0.05"/>
      <origin xyz="0 0 0" rpy="0 0 0"/>
      <inertia ixx="1.0" ixy="0.0" ixz="0.0" iyy="1.0" iyz="0.0" izz="1.0"/>
    </inertial>
    <collision name="COL_Alpha_Surface.018_convex_hull">
      <origin xyz="-0.84638 -1.37197 -0.0116" rpy="0 0 0"/>
      <geometry>
        <mesh filename="package://user_avatar_ybot/meshes/collisions/COL_Alpha_Surface_018_convex_hull.dae" scale="0.009999999776482582 0.009999999776482582 0.009999999776482582"/>
      </geometry>
    </collision>
    <collision name="COL_Alpha_Joints.011_convex_hull">
      <origin xyz="-0.84638 -1.37197 -0.0116" rpy="0 0 0"/>
      <geometry>
        <mesh filename="package://user_avatar_ybot/meshes/collisions/COL_Alpha_Joints_011_convex_hull.dae" scale="0.009999999776482582 0.009999999776482582 0.009999999776482582"/>
      </geometry>
    </collision>
    <visual name="VIS_Alpha_Surface.018">
      <origin xyz="-0.84638 -1.37197 -0.0116" rpy="0 0 0"/>
      <geometry>
        <mesh filename="package://user_avatar_ybot/meshes/visual/VIS_Alpha_Surface_018.dae" scale="0.009999999776482582 0.009999999776482582 0.009999999776482582"/>
      </geometry>
    </visual>
    <visual name="VIS_Alpha_Joints.011">
      <origin xyz="-0.84638 -1.37197 -0.0116" rpy="0 0 0"/>
      <geometry>
        <mesh filename="package://user_avatar_ybot/meshes/visual/VIS_Alpha_Joints_011.dae" scale="0.009999999776482582 0.009999999776482582 0.009999999776482582"/>
      </geometry>
    </visual>
  </link>
  <link name="mixamorig_LeftHandThumb4">
    <inertial>
      <mass value="0.01"/>
      <origin xyz="0 0 0" rpy="0 0 0"/>
      <inertia ixx="1.0" ixy="0.0" ixz="0.0" iyy="1.0" iyz="0.0" izz="1.0"/>
    </inertial>
  </link>
  <link name="mixamorig_LeftHandIndex1">
    <inertial>
      <mass value="0.05"/>
      <origin xyz="0 0 0" rpy="0 0 0"/>
      <inertia ixx="1.0" ixy="0.0" ixz="0.0" iyy="1.0" iyz="0.0" izz="1.0"/>
    </inertial>
    <collision name="COL_Alpha_Surface.019_convex_hull">
      <origin xyz="-0.86046 -1.43214  0.03102" rpy="0 0 0"/>
      <geometry>
        <mesh filename="package://user_avatar_ybot/meshes/collisions/COL_Alpha_Surface_019_convex_hull.dae" scale="0.009999999776482582 0.009999999776482582 0.009999999776482582"/>
      </geometry>
    </collision>
    <collision name="COL_Alpha_Joints.016_convex_hull">
      <origin xyz="-0.86046 -1.43214  0.03102" rpy="0 0 0"/>
      <geometry>
        <mesh filename="package://user_avatar_ybot/meshes/collisions/COL_Alpha_Joints_016_convex_hull.dae" scale="0.009999999776482582 0.009999999776482582 0.009999999776482582"/>
      </geometry>
    </collision>
    <visual name="VIS_Alpha_Surface.019">
      <origin xyz="-0.86046 -1.43214  0.03102" rpy="0 0 0"/>
      <geometry>
        <mesh filename="package://user_avatar_ybot/meshes/visual/VIS_Alpha_Surface_019.dae" scale="0.009999999776482582 0.009999999776482582 0.009999999776482582"/>
      </geometry>
    </visual>
    <visual name="VIS_Alpha_Joints.016">
      <origin xyz="-0.86046 -1.43214  0.03102" rpy="0 0 0"/>
      <geometry>
        <mesh filename="package://user_avatar_ybot/meshes/visual/VIS_Alpha_Joints_016.dae" scale="0.009999999776482582 0.009999999776482582 0.009999999776482582"/>
      </geometry>
    </visual>
  </link>
  <link name="mixamorig_LeftHandIndex2">
    <inertial>
      <mass value="0.05"/>
      <origin xyz="0 0 0" rpy="0 0 0"/>
      <inertia ixx="1.0" ixy="0.0" ixz="0.0" iyy="1.0" iyz="0.0" izz="1.0"/>
    </inertial>
    <collision name="COL_Alpha_Surface.026_convex_hull">
      <origin xyz="-0.89938 -1.43214  0.03102" rpy="0 0 0"/>
      <geometry>
        <mesh filename="package://user_avatar_ybot/meshes/collisions/COL_Alpha_Surface_026_convex_hull.dae" scale="0.009999999776482582 0.009999999776482582 0.009999999776482582"/>
      </geometry>
    </collision>
    <collision name="COL_Alpha_Joints.015_convex_hull">
      <origin xyz="-0.89938 -1.43214  0.03102" rpy="0 0 0"/>
      <geometry>
        <mesh filename="package://user_avatar_ybot/meshes/collisions/COL_Alpha_Joints_015_convex_hull.dae" scale="0.009999999776482582 0.009999999776482582 0.009999999776482582"/>
      </geometry>
    </collision>
    <visual name="VIS_Alpha_Surface.026">
      <origin xyz="-0.89938 -1.43214  0.03102" rpy="0 0 0"/>
      <geometry>
        <mesh filename="package://user_avatar_ybot/meshes/visual/VIS_Alpha_Surface_026.dae" scale="0.009999999776482582 0.009999999776482582 0.009999999776482582"/>
      </geometry>
    </visual>
    <visual name="VIS_Alpha_Joints.015">
      <origin xyz="-0.89938 -1.43214  0.03102" rpy="0 0 0"/>
      <geometry>
        <mesh filename="package://user_avatar_ybot/meshes/visual/VIS_Alpha_Joints_015.dae" scale="0.009999999776482582 0.009999999776482582 0.009999999776482582"/>
      </geometry>
    </visual>
  </link>
  <link name="mixamorig_LeftHandIndex3">
    <inertial>
      <mass value="0.05"/>
      <origin xyz="0 0 0" rpy="0 0 0"/>
      <inertia ixx="1.0" ixy="0.0" ixz="0.0" iyy="1.0" iyz="0.0" izz="1.0"/>
    </inertial>
    <collision name="COL_Alpha_Surface.027_convex_hull">
      <origin xyz="-0.93353 -1.43214  0.03102" rpy="0 0 0"/>
      <geometry>
        <mesh filename="package://user_avatar_ybot/meshes/collisions/COL_Alpha_Surface_027_convex_hull.dae" scale="0.009999999776482582 0.009999999776482582 0.009999999776482582"/>
      </geometry>
    </collision>
    <collision name="COL_Alpha_Joints.014_convex_hull">
      <origin xyz="-0.93353 -1.43214  0.03102" rpy="0 0 0"/>
      <geometry>
        <mesh filename="package://user_avatar_ybot/meshes/collisions/COL_Alpha_Joints_014_convex_hull.dae" scale="0.009999999776482582 0.009999999776482582 0.009999999776482582"/>
      </geometry>
    </collision>
    <visual name="VIS_Alpha_Surface.027">
      <origin xyz="-0.93353 -1.43214  0.03102" rpy="0 0 0"/>
      <geometry>
        <mesh filename="package://user_avatar_ybot/meshes/visual/VIS_Alpha_Surface_027.dae" scale="0.009999999776482582 0.009999999776482582 0.009999999776482582"/>
      </geometry>
    </visual>
    <visual name="VIS_Alpha_Joints.014">
      <origin xyz="-0.93353 -1.43214  0.03102" rpy="0 0 0"/>
      <geometry>
        <mesh filename="package://user_avatar_ybot/meshes/visual/VIS_Alpha_Joints_014.dae" scale="0.009999999776482582 0.009999999776482582 0.009999999776482582"/>
      </geometry>
    </visual>
  </link>
  <link name="mixamorig_LeftHandIndex4">
    <inertial>
      <mass value="0.01"/>
      <origin xyz="0 0 0" rpy="0 0 0"/>
      <inertia ixx="1.0" ixy="0.0" ixz="0.0" iyy="1.0" iyz="0.0" izz="1.0"/>
    </inertial>
  </link>
  <link name="mixamorig_LeftHandRing1">
    <inertial>
      <mass value="0.05"/>
      <origin xyz="0 0 0" rpy="0 0 0"/>
      <inertia ixx="1.0" ixy="0.0" ixz="0.0" iyy="1.0" iyz="0.0" izz="1.0"/>
    </inertial>
    <collision name="COL_Alpha_Surface.021_convex_hull">
      <origin xyz="-0.85927 -1.43455  0.08141" rpy="0 0 0"/>
      <geometry>
        <mesh filename="package://user_avatar_ybot/meshes/collisions/COL_Alpha_Surface_021_convex_hull.dae" scale="0.009999999776482582 0.009999998845160007 0.009999999776482582"/>
      </geometry>
    </collision>
    <collision name="COL_Alpha_Joints.020_convex_hull">
      <origin xyz="-0.85927 -1.43455  0.08141" rpy="0 0 0"/>
      <geometry>
        <mesh filename="package://user_avatar_ybot/meshes/collisions/COL_Alpha_Joints_020_convex_hull.dae" scale="0.009999999776482582 0.009999998845160007 0.009999999776482582"/>
      </geometry>
    </collision>
    <visual name="VIS_Alpha_Surface.021">
      <origin xyz="-0.85927 -1.43455  0.08141" rpy="0 0 0"/>
      <geometry>
        <mesh filename="package://user_avatar_ybot/meshes/visual/VIS_Alpha_Surface_021.dae" scale="0.009999999776482582 0.009999999776482582 0.009999999776482582"/>
      </geometry>
    </visual>
    <visual name="VIS_Alpha_Joints.020">
      <origin xyz="-0.85927 -1.43455  0.08141" rpy="0 0 0"/>
      <geometry>
        <mesh filename="package://user_avatar_ybot/meshes/visual/VIS_Alpha_Joints_020.dae" scale="0.009999999776482582 0.009999999776482582 0.009999999776482582"/>
      </geometry>
    </visual>
  </link>
  <link name="mixamorig_LeftHandRing2">
    <inertial>
      <mass value="0.05"/>
      <origin xyz="0 0 0" rpy="0 0 0"/>
      <inertia ixx="1.0" ixy="0.0" ixz="0.0" iyy="1.0" iyz="0.0" izz="1.0"/>
    </inertial>
    <collision name="COL_Alpha_Surface.024_convex_hull">
      <origin xyz="-0.89528 -1.43455  0.08141" rpy="0 0 0"/>
      <geometry>
        <mesh filename="package://user_avatar_ybot/meshes/collisions/COL_Alpha_Surface_024_convex_hull.dae" scale="0.009999999776482582 0.009999999776482582 0.009999999776482582"/>
      </geometry>
    </collision>
    <collision name="COL_Alpha_Joints.021_convex_hull">
      <origin xyz="-0.89528 -1.43455  0.08141" rpy="0 0 0"/>
      <geometry>
        <mesh filename="package://user_avatar_ybot/meshes/collisions/COL_Alpha_Joints_021_convex_hull.dae" scale="0.009999999776482582 0.009999999776482582 0.009999999776482582"/>
      </geometry>
    </collision>
    <visual name="VIS_Alpha_Surface.024">
      <origin xyz="-0.89528 -1.43455  0.08141" rpy="0 0 0"/>
      <geometry>
        <mesh filename="package://user_avatar_ybot/meshes/visual/VIS_Alpha_Surface_024.dae" scale="0.009999999776482582 0.009999999776482582 0.009999999776482582"/>
      </geometry>
    </visual>
    <visual name="VIS_Alpha_Joints.021">
      <origin xyz="-0.89528 -1.43455  0.08141" rpy="0 0 0"/>
      <geometry>
        <mesh filename="package://user_avatar_ybot/meshes/visual/VIS_Alpha_Joints_021.dae" scale="0.009999999776482582 0.009999999776482582 0.009999999776482582"/>
      </geometry>
    </visual>
  </link>
  <link name="mixamorig_LeftHandRing3">
    <inertial>
      <mass value="0.05"/>
      <origin xyz="0 0 0" rpy="0 0 0"/>
      <inertia ixx="1.0" ixy="0.0" ixz="0.0" iyy="1.0" iyz="0.0" izz="1.0"/>
    </inertial>
    <collision name="COL_Alpha_Surface.029_convex_hull">
      <origin xyz="-0.92835 -1.43455  0.08141" rpy="0 0 0"/>
      <geometry>
        <mesh filename="package://user_avatar_ybot/meshes/collisions/COL_Alpha_Surface_029_convex_hull.dae" scale="0.009999999776482582 0.009999999776482582 0.009999999776482582"/>
      </geometry>
    </collision>
    <collision name="COL_Alpha_Joints.022_convex_hull">
      <origin xyz="-0.92835 -1.43455  0.08141" rpy="0 0 0"/>
      <geometry>
        <mesh filename="package://user_avatar_ybot/meshes/collisions/COL_Alpha_Joints_022_convex_hull.dae" scale="0.009999999776482582 0.009999999776482582 0.009999999776482582"/>
      </geometry>
    </collision>
    <visual name="VIS_Alpha_Surface.029">
      <origin xyz="-0.92835 -1.43455  0.08141" rpy="0 0 0"/>
      <geometry>
        <mesh filename="package://user_avatar_ybot/meshes/visual/VIS_Alpha_Surface_029.dae" scale="0.009999999776482582 0.009999999776482582 0.009999999776482582"/>
      </geometry>
    </visual>
    <visual name="VIS_Alpha_Joints.022">
      <origin xyz="-0.92835 -1.43455  0.08141" rpy="0 0 0"/>
      <geometry>
        <mesh filename="package://user_avatar_ybot/meshes/visual/VIS_Alpha_Joints_022.dae" scale="0.009999999776482582 0.009999999776482582 0.009999999776482582"/>
      </geometry>
    </visual>
  </link>
  <link name="mixamorig_LeftHandRing4">
    <inertial>
      <mass value="0.01"/>
      <origin xyz="0 0 0" rpy="0 0 0"/>
      <inertia ixx="1.0" ixy="0.0" ixz="0.0" iyy="1.0" iyz="0.0" izz="1.0"/>
    </inertial>
  </link>
  <link name="mixamorig_LeftHandPinky1">
    <inertial>
      <mass value="0.05"/>
      <origin xyz="0 0 0" rpy="0 0 0"/>
      <inertia ixx="1.0" ixy="0.0" ixz="0.0" iyy="1.0" iyz="0.0" izz="1.0"/>
    </inertial>
    <collision name="COL_Alpha_Surface.022_convex_hull">
      <origin xyz="-0.84688 -1.43219  0.1065" rpy="0 0 0"/>
      <geometry>
        <mesh filename="package://user_avatar_ybot/meshes/collisions/COL_Alpha_Surface_022_convex_hull.dae" scale="0.009999999776482582 0.009999999776482582 0.009999999776482582"/>
      </geometry>
    </collision>
    <collision name="COL_Alpha_Joints.023_convex_hull">
      <origin xyz="-0.84688 -1.43219  0.1065" rpy="0 0 0"/>
      <geometry>
        <mesh filename="package://user_avatar_ybot/meshes/collisions/COL_Alpha_Joints_023_convex_hull.dae" scale="0.009999999776482582 0.009999999776482582 0.009999999776482582"/>
      </geometry>
    </collision>
    <visual name="VIS_Alpha_Surface.022">
      <origin xyz="-0.84688 -1.43219  0.1065" rpy="0 0 0"/>
      <geometry>
        <mesh filename="package://user_avatar_ybot/meshes/visual/VIS_Alpha_Surface_022.dae" scale="0.009999999776482582 0.009999999776482582 0.009999999776482582"/>
      </geometry>
    </visual>
    <visual name="VIS_Alpha_Joints.023">
      <origin xyz="-0.84688 -1.43219  0.1065" rpy="0 0 0"/>
      <geometry>
        <mesh filename="package://user_avatar_ybot/meshes/visual/VIS_Alpha_Joints_023.dae" scale="0.009999999776482582 0.009999999776482582 0.009999999776482582"/>
      </geometry>
    </visual>
  </link>
  <link name="mixamorig_LeftHandPinky2">
    <inertial>
      <mass value="0.05"/>
      <origin xyz="0 0 0" rpy="0 0 0"/>
      <inertia ixx="1.0" ixy="0.0" ixz="0.0" iyy="1.0" iyz="0.0" izz="1.0"/>
    </inertial>
    <collision name="COL_Alpha_Surface.023_convex_hull">
      <origin xyz="-0.88824 -1.43219  0.1065" rpy="0 0 0"/>
      <geometry>
        <mesh filename="package://user_avatar_ybot/meshes/collisions/COL_Alpha_Surface_023_convex_hull.dae" scale="0.009999999776482582 0.009999998845160007 0.009999999776482582"/>
      </geometry>
    </collision>
    <collision name="COL_Alpha_Joints.024_convex_hull">
      <origin xyz="-0.88824 -1.43219  0.1065" rpy="0 0 0"/>
      <geometry>
        <mesh filename="package://user_avatar_ybot/meshes/collisions/COL_Alpha_Joints_024_convex_hull.dae" scale="0.009999999776482582 0.009999998845160007 0.009999999776482582"/>
      </geometry>
    </collision>
    <visual name="VIS_Alpha_Surface.023">
      <origin xyz="-0.88824 -1.43219  0.1065" rpy="0 0 0"/>
      <geometry>
        <mesh filename="package://user_avatar_ybot/meshes/visual/VIS_Alpha_Surface_023.dae" scale="0.009999999776482582 0.009999999776482582 0.009999999776482582"/>
      </geometry>
    </visual>
    <visual name="VIS_Alpha_Joints.024">
      <origin xyz="-0.88824 -1.43219  0.1065" rpy="0 0 0"/>
      <geometry>
        <mesh filename="package://user_avatar_ybot/meshes/visual/VIS_Alpha_Joints_024.dae" scale="0.009999999776482582 0.009999999776482582 0.009999999776482582"/>
      </geometry>
    </visual>
  </link>
  <link name="mixamorig_LeftHandPinky3">
    <inertial>
      <mass value="0.05"/>
      <origin xyz="0 0 0" rpy="0 0 0"/>
      <inertia ixx="1.0" ixy="0.0" ixz="0.0" iyy="1.0" iyz="0.0" izz="1.0"/>
    </inertial>
    <collision name="COL_Alpha_Surface.030_convex_hull">
      <origin xyz="-0.91419 -1.43219  0.1065" rpy="0 0 0"/>
      <geometry>
        <mesh filename="package://user_avatar_ybot/meshes/collisions/COL_Alpha_Surface_030_convex_hull.dae" scale="0.009999999776482582 0.009999998845160007 0.009999999776482582"/>
      </geometry>
    </collision>
    <collision name="COL_Alpha_Joints.025_convex_hull">
      <origin xyz="-0.91419 -1.43219  0.1065" rpy="0 0 0"/>
      <geometry>
        <mesh filename="package://user_avatar_ybot/meshes/collisions/COL_Alpha_Joints_025_convex_hull.dae" scale="0.009999999776482582 0.009999998845160007 0.009999999776482582"/>
      </geometry>
    </collision>
    <visual name="VIS_Alpha_Surface.030">
      <origin xyz="-0.91419 -1.43219  0.1065" rpy="0 0 0"/>
      <geometry>
        <mesh filename="package://user_avatar_ybot/meshes/visual/VIS_Alpha_Surface_030.dae" scale="0.009999999776482582 0.009999999776482582 0.009999999776482582"/>
      </geometry>
    </visual>
    <visual name="VIS_Alpha_Joints.025">
      <origin xyz="-0.91419 -1.43219  0.1065" rpy="0 0 0"/>
      <geometry>
        <mesh filename="package://user_avatar_ybot/meshes/visual/VIS_Alpha_Joints_025.dae" scale="0.009999999776482582 0.009999999776482582 0.009999999776482582"/>
      </geometry>
    </visual>
  </link>
  <link name="mixamorig_LeftHandPinky4">
    <inertial>
      <mass value="0.01"/>
      <origin xyz="0 0 0" rpy="0 0 0"/>
      <inertia ixx="1.0" ixy="0.0" ixz="0.0" iyy="1.0" iyz="0.0" izz="1.0"/>
    </inertial>
  </link>
  <link name="mixamorig_RightShoulder">
    <inertial>
      <mass value="1.0"/>
      <origin xyz="0 0 0" rpy="0 0 0"/>
      <inertia ixx="1.0" ixy="0.0" ixz="0.0" iyy="1.0" iyz="0.0" izz="1.0"/>
    </inertial>
    <collision name="COL_Alpha_Joints.026_convex_hull">
      <origin xyz="0.06105 -1.43711  0.03323" rpy="0 0 0"/>
      <geometry>
        <mesh filename="package://user_avatar_ybot/meshes/collisions/COL_Alpha_Joints_026_convex_hull.dae" scale="0.009999999776482582 0.009999999776482582 0.009999999776482582"/>
      </geometry>
    </collision>
    <visual name="VIS_Alpha_Joints.026">
      <origin xyz="0.06105 -1.43711  0.03323" rpy="0 0 0"/>
      <geometry>
        <mesh filename="package://user_avatar_ybot/meshes/visual/VIS_Alpha_Joints_026.dae" scale="0.009999999776482582 0.009999999776482582 0.009999999776482582"/>
      </geometry>
    </visual>
  </link>
  <link name="mixamorig_RightArm">
    <inertial>
      <mass value="2.63"/>
      <origin xyz="0 0 0" rpy="0 0 0"/>
      <inertia ixx="1.0" ixy="0.0" ixz="0.0" iyy="1.0" iyz="0.0" izz="1.0"/>
    </inertial>
    <collision name="COL_Alpha_Surface.031_convex_hull">
      <origin xyz="0.1876  -1.43445  0.05924" rpy="0 0 0"/>
      <geometry>
        <mesh filename="package://user_avatar_ybot/meshes/collisions/COL_Alpha_Surface_031_convex_hull.dae" scale="0.009999999776482582 0.009999998845160007 0.009999999776482582"/>
      </geometry>
    </collision>
    <visual name="VIS_Alpha_Surface.031">
      <origin xyz="0.1876  -1.43445  0.05924" rpy="0 0 0"/>
      <geometry>
        <mesh filename="package://user_avatar_ybot/meshes/visual/VIS_Alpha_Surface_031.dae" scale="0.009999999776482582 0.009999999776482582 0.009999999776482582"/>
      </geometry>
    </visual>
  </link>
  <link name="mixamorig_RightArm_JointLink1">
    <inertial>
      <mass value="0.01"/>
      <origin xyz="0 0 0" rpy="0 0 0"/>
      <inertia ixx="1.0" ixy="0.0" ixz="0.0" iyy="1.0" iyz="0.0" izz="1.0"/>
    </inertial>
  </link>
  <link name="mixamorig_RightArm_JointLink2">
    <inertial>
      <mass value="0.01"/>
      <origin xyz="0 0 0" rpy="0 0 0"/>
      <inertia ixx="1.0" ixy="0.0" ixz="0.0" iyy="1.0" iyz="0.0" izz="1.0"/>
    </inertial>
  </link>
  <link name="mixamorig_RightForeArm">
    <inertial>
      <mass value="1.82"/>
      <origin xyz="0 0 0" rpy="0 0 0"/>
      <inertia ixx="1.0" ixy="0.0" ixz="0.0" iyy="1.0" iyz="0.0" izz="1.0"/>
    </inertial>
    <collision name="COL_Alpha_Surface.032_convex_hull">
      <origin xyz="0.46165 -1.43445  0.05924" rpy="0 0 0"/>
      <geometry>
        <mesh filename="package://user_avatar_ybot/meshes/collisions/COL_Alpha_Surface_032_convex_hull.dae" scale="0.009999999776482582 0.009999999776482582 0.009999999776482582"/>
      </geometry>
    </collision>
    <collision name="COL_Alpha_Joints.027_convex_hull">
      <origin xyz="0.46165 -1.43445  0.05924" rpy="0 0 0"/>
      <geometry>
        <mesh filename="package://user_avatar_ybot/meshes/collisions/COL_Alpha_Joints_027_convex_hull.dae" scale="0.009999999776482582 0.009999999776482582 0.009999999776482582"/>
      </geometry>
    </collision>
    <visual name="VIS_Alpha_Surface.032">
      <origin xyz="0.46165 -1.43445  0.05924" rpy="0 0 0"/>
      <geometry>
        <mesh filename="package://user_avatar_ybot/meshes/visual/VIS_Alpha_Surface_032.dae" scale="0.009999999776482582 0.009999999776482582 0.009999999776482582"/>
      </geometry>
    </visual>
    <visual name="VIS_Alpha_Joints.027">
      <origin xyz="0.46165 -1.43445  0.05924" rpy="0 0 0"/>
      <geometry>
        <mesh filename="package://user_avatar_ybot/meshes/visual/VIS_Alpha_Joints_027.dae" scale="0.009999999776482582 0.009999999776482582 0.009999999776482582"/>
      </geometry>
    </visual>
  </link>
  <link name="mixamorig_RightHand">
    <inertial>
      <mass value="0.2"/>
      <origin xyz="0 0 0" rpy="0 0 0"/>
      <inertia ixx="1.0" ixy="0.0" ixz="0.0" iyy="1.0" iyz="0.0" izz="1.0"/>
    </inertial>
    <collision name="COL_Alpha_Surface.033_convex_hull">
      <origin xyz="0.73779 -1.43445  0.05924" rpy="0 0 0"/>
      <geometry>
        <mesh filename="package://user_avatar_ybot/meshes/collisions/COL_Alpha_Surface_033_convex_hull.dae" scale="0.009999999776482582 0.009999998845160007 0.009999999776482582"/>
      </geometry>
    </collision>
    <collision name="COL_Alpha_Joints.028_convex_hull">
      <origin xyz="0.73779 -1.43445  0.05924" rpy="0 0 0"/>
      <geometry>
        <mesh filename="package://user_avatar_ybot/meshes/collisions/COL_Alpha_Joints_028_convex_hull.dae" scale="0.009999999776482582 0.009999998845160007 0.009999999776482582"/>
      </geometry>
    </collision>
    <visual name="VIS_Alpha_Surface.033">
      <origin xyz="0.73779 -1.43445  0.05924" rpy="0 0 0"/>
      <geometry>
        <mesh filename="package://user_avatar_ybot/meshes/visual/VIS_Alpha_Surface_033.dae" scale="0.009999999776482582 0.009999999776482582 0.009999999776482582"/>
      </geometry>
    </visual>
    <visual name="VIS_Alpha_Joints.028">
      <origin xyz="0.73779 -1.43445  0.05924" rpy="0 0 0"/>
      <geometry>
        <mesh filename="package://user_avatar_ybot/meshes/visual/VIS_Alpha_Joints_028.dae" scale="0.009999999776482582 0.009999999776482582 0.009999999776482582"/>
      </geometry>
    </visual>
  </link>
  <link name="mixamorig_RightHand_JointLink1">
    <inertial>
      <mass value="0.2"/>
      <origin xyz="0 0 0" rpy="0 0 0"/>
      <inertia ixx="1.0" ixy="0.0" ixz="0.0" iyy="1.0" iyz="0.0" izz="1.0"/>
    </inertial>
  </link>
  <link name="mixamorig_RightHand_JointLink2">
    <inertial>
      <mass value="0.2"/>
      <origin xyz="0 0 0" rpy="0 0 0"/>
      <inertia ixx="1.0" ixy="0.0" ixz="0.0" iyy="1.0" iyz="0.0" izz="1.0"/>
    </inertial>
  </link>
  <link name="mixamorig_RightHandMiddle1">
    <inertial>
      <mass value="0.05"/>
      <origin xyz="0 0 0" rpy="0 0 0"/>
      <inertia ixx="1.0" ixy="0.0" ixz="0.0" iyy="1.0" iyz="0.0" izz="1.0"/>
    </inertial>
    <collision name="COL_Alpha_Surface.038_convex_hull">
      <origin xyz="0.86555 -1.43445  0.05924" rpy="0 0 0"/>
      <geometry>
        <mesh filename="package://user_avatar_ybot/meshes/collisions/COL_Alpha_Surface_038_convex_hull.dae" scale="0.009999999776482582 0.009999998845160007 0.009999999776482582"/>
      </geometry>
    </collision>
    <collision name="COL_Alpha_Joints.035_convex_hull">
      <origin xyz="0.86555 -1.43445  0.05924" rpy="0 0 0"/>
      <geometry>
        <mesh filename="package://user_avatar_ybot/meshes/collisions/COL_Alpha_Joints_035_convex_hull.dae" scale="0.009999999776482582 0.009999998845160007 0.009999999776482582"/>
      </geometry>
    </collision>
    <visual name="VIS_Alpha_Surface.038">
      <origin xyz="0.86555 -1.43445  0.05924" rpy="0 0 0"/>
      <geometry>
        <mesh filename="package://user_avatar_ybot/meshes/visual/VIS_Alpha_Surface_038.dae" scale="0.009999999776482582 0.009999999776482582 0.009999999776482582"/>
      </geometry>
    </visual>
    <visual name="VIS_Alpha_Joints.035">
      <origin xyz="0.86555 -1.43445  0.05924" rpy="0 0 0"/>
      <geometry>
        <mesh filename="package://user_avatar_ybot/meshes/visual/VIS_Alpha_Joints_035.dae" scale="0.009999999776482582 0.009999999776482582 0.009999999776482582"/>
      </geometry>
    </visual>
  </link>
  <link name="mixamorig_RightHandMiddle2">
    <inertial>
      <mass value="0.05"/>
      <origin xyz="0 0 0" rpy="0 0 0"/>
      <inertia ixx="1.0" ixy="0.0" ixz="0.0" iyy="1.0" iyz="0.0" izz="1.0"/>
    </inertial>
    <collision name="COL_Alpha_Surface.043_convex_hull">
      <origin xyz="0.90169 -1.43445  0.05924" rpy="0 0 0"/>
      <geometry>
        <mesh filename="package://user_avatar_ybot/meshes/collisions/COL_Alpha_Surface_043_convex_hull.dae" scale="0.009999999776482582 0.009999999776482582 0.009999999776482582"/>
      </geometry>
    </collision>
    <collision name="COL_Alpha_Joints.036_convex_hull">
      <origin xyz="0.90169 -1.43445  0.05924" rpy="0 0 0"/>
      <geometry>
        <mesh filename="package://user_avatar_ybot/meshes/collisions/COL_Alpha_Joints_036_convex_hull.dae" scale="0.009999999776482582 0.009999999776482582 0.009999999776482582"/>
      </geometry>
    </collision>
    <visual name="VIS_Alpha_Surface.043">
      <origin xyz="0.90169 -1.43445  0.05924" rpy="0 0 0"/>
      <geometry>
        <mesh filename="package://user_avatar_ybot/meshes/visual/VIS_Alpha_Surface_043.dae" scale="0.009999999776482582 0.009999999776482582 0.009999999776482582"/>
      </geometry>
    </visual>
    <visual name="VIS_Alpha_Joints.036">
      <origin xyz="0.90169 -1.43445  0.05924" rpy="0 0 0"/>
      <geometry>
        <mesh filename="package://user_avatar_ybot/meshes/visual/VIS_Alpha_Joints_036.dae" scale="0.009999999776482582 0.009999999776482582 0.009999999776482582"/>
      </geometry>
    </visual>
  </link>
  <link name="mixamorig_RightHandMiddle3">
    <inertial>
      <mass value="0.05"/>
      <origin xyz="0 0 0" rpy="0 0 0"/>
      <inertia ixx="1.0" ixy="0.0" ixz="0.0" iyy="1.0" iyz="0.0" izz="1.0"/>
    </inertial>
    <collision name="COL_Alpha_Surface.047_convex_hull">
      <origin xyz="0.93629 -1.43445  0.05924" rpy="0 0 0"/>
      <geometry>
        <mesh filename="package://user_avatar_ybot/meshes/collisions/COL_Alpha_Surface_047_convex_hull.dae" scale="0.009999999776482582 0.009999999776482582 0.009999999776482582"/>
      </geometry>
    </collision>
    <collision name="COL_Alpha_Joints.037_convex_hull">
      <origin xyz="0.93629 -1.43445  0.05924" rpy="0 0 0"/>
      <geometry>
        <mesh filename="package://user_avatar_ybot/meshes/collisions/COL_Alpha_Joints_037_convex_hull.dae" scale="0.009999999776482582 0.009999999776482582 0.009999999776482582"/>
      </geometry>
    </collision>
    <visual name="VIS_Alpha_Surface.047">
      <origin xyz="0.93629 -1.43445  0.05924" rpy="0 0 0"/>
      <geometry>
        <mesh filename="package://user_avatar_ybot/meshes/visual/VIS_Alpha_Surface_047.dae" scale="0.009999999776482582 0.009999999776482582 0.009999999776482582"/>
      </geometry>
    </visual>
    <visual name="VIS_Alpha_Joints.037">
      <origin xyz="0.93629 -1.43445  0.05924" rpy="0 0 0"/>
      <geometry>
        <mesh filename="package://user_avatar_ybot/meshes/visual/VIS_Alpha_Joints_037.dae" scale="0.009999999776482582 0.009999999776482582 0.009999999776482582"/>
      </geometry>
    </visual>
  </link>
  <link name="mixamorig_RightHandMiddle4">
    <inertial>
      <mass value="0.01"/>
      <origin xyz="0 0 0" rpy="0 0 0"/>
      <inertia ixx="1.0" ixy="0.0" ixz="0.0" iyy="1.0" iyz="0.0" izz="1.0"/>
    </inertial>
  </link>
  <link name="mixamorig_RightHandThumb1">
    <inertial>
      <mass value="0.05"/>
      <origin xyz="0 0 0" rpy="0 0 0"/>
      <inertia ixx="1.0" ixy="0.0" ixz="0.0" iyy="1.0" iyz="0.0" izz="1.0"/>
    </inertial>
    <collision name="COL_Alpha_Surface.034_convex_hull">
      <origin xyz="0.77568 -1.41278  0.02921" rpy="0 0 0"/>
      <geometry>
        <mesh filename="package://user_avatar_ybot/meshes/collisions/COL_Alpha_Surface_034_convex_hull.dae" scale="0.009999999776482582 0.009999998845160007 0.009999999776482582"/>
      </geometry>
    </collision>
    <collision name="COL_Alpha_Joints.031_convex_hull">
      <origin xyz="0.77568 -1.41278  0.02921" rpy="0 0 0"/>
      <geometry>
        <mesh filename="package://user_avatar_ybot/meshes/collisions/COL_Alpha_Joints_031_convex_hull.dae" scale="0.009999999776482582 0.009999998845160007 0.009999999776482582"/>
      </geometry>
    </collision>
    <visual name="VIS_Alpha_Surface.034">
      <origin xyz="0.77568 -1.41278  0.02921" rpy="0 0 0"/>
      <geometry>
        <mesh filename="package://user_avatar_ybot/meshes/visual/VIS_Alpha_Surface_034.dae" scale="0.009999999776482582 0.009999999776482582 0.009999999776482582"/>
      </geometry>
    </visual>
    <visual name="VIS_Alpha_Joints.031">
      <origin xyz="0.77568 -1.41278  0.02921" rpy="0 0 0"/>
      <geometry>
        <mesh filename="package://user_avatar_ybot/meshes/visual/VIS_Alpha_Joints_031.dae" scale="0.009999999776482582 0.009999999776482582 0.009999999776482582"/>
      </geometry>
    </visual>
  </link>
  <link name="mixamorig_RightHandThumb1_JointLink1">
    <inertial>
      <mass value="0.05"/>
      <origin xyz="0 0 0" rpy="0 0 0"/>
      <inertia ixx="1.0" ixy="0.0" ixz="0.0" iyy="1.0" iyz="0.0" izz="1.0"/>
    </inertial>
  </link>
  <link name="mixamorig_RightHandThumb1_JointLink2">
    <inertial>
      <mass value="0.05"/>
      <origin xyz="0 0 0" rpy="0 0 0"/>
      <inertia ixx="1.0" ixy="0.0" ixz="0.0" iyy="1.0" iyz="0.0" izz="1.0"/>
    </inertial>
  </link>
  <link name="mixamorig_RightHandThumb2">
    <inertial>
      <mass value="0.05"/>
      <origin xyz="0 0 0" rpy="0 0 0"/>
      <inertia ixx="1.0" ixy="0.0" ixz="0.0" iyy="1.0" iyz="0.0" izz="1.0"/>
    </inertial>
    <collision name="COL_Alpha_Joints.030_convex_hull">
      <origin xyz="0.81244 -1.39156  0.00799" rpy="0 0 0"/>
      <geometry>
        <mesh filename="package://user_avatar_ybot/meshes/collisions/COL_Alpha_Joints_030_convex_hull.dae" scale="0.009999999776482582 0.009999999776482582 0.009999999776482582"/>
      </geometry>
    </collision>
    <collision name="COL_Alpha_Surface.035_convex_hull">
      <origin xyz="0.81244 -1.39156  0.00799" rpy="0 0 0"/>
      <geometry>
        <mesh filename="package://user_avatar_ybot/meshes/collisions/COL_Alpha_Surface_035_convex_hull.dae" scale="0.009999999776482582 0.009999999776482582 0.009999999776482582"/>
      </geometry>
    </collision>
    <visual name="VIS_Alpha_Joints.030">
      <origin xyz="0.81244 -1.39156  0.00799" rpy="0 0 0"/>
      <geometry>
        <mesh filename="package://user_avatar_ybot/meshes/visual/VIS_Alpha_Joints_030.dae" scale="0.009999999776482582 0.009999999776482582 0.009999999776482582"/>
      </geometry>
    </visual>
    <visual name="VIS_Alpha_Surface.035">
      <origin xyz="0.81244 -1.39156  0.00799" rpy="0 0 0"/>
      <geometry>
        <mesh filename="package://user_avatar_ybot/meshes/visual/VIS_Alpha_Surface_035.dae" scale="0.009999999776482582 0.009999999776482582 0.009999999776482582"/>
      </geometry>
    </visual>
  </link>
  <link name="mixamorig_RightHandThumb3">
    <inertial>
      <mass value="0.05"/>
      <origin xyz="0 0 0" rpy="0 0 0"/>
      <inertia ixx="1.0" ixy="0.0" ixz="0.0" iyy="1.0" iyz="0.0" izz="1.0"/>
    </inertial>
    <collision name="COL_Alpha_Surface.036_convex_hull">
      <origin xyz="0.84638 -1.37197 -0.0116" rpy="0 0 0"/>
      <geometry>
        <mesh filename="package://user_avatar_ybot/meshes/collisions/COL_Alpha_Surface_036_convex_hull.dae" scale="0.009999999776482582 0.009999999776482582 0.009999999776482582"/>
      </geometry>
    </collision>
    <collision name="COL_Alpha_Joints.029_convex_hull">
      <origin xyz="0.84638 -1.37197 -0.0116" rpy="0 0 0"/>
      <geometry>
        <mesh filename="package://user_avatar_ybot/meshes/collisions/COL_Alpha_Joints_029_convex_hull.dae" scale="0.009999999776482582 0.009999999776482582 0.009999999776482582"/>
      </geometry>
    </collision>
    <visual name="VIS_Alpha_Surface.036">
      <origin xyz="0.84638 -1.37197 -0.0116" rpy="0 0 0"/>
      <geometry>
        <mesh filename="package://user_avatar_ybot/meshes/visual/VIS_Alpha_Surface_036.dae" scale="0.009999999776482582 0.009999999776482582 0.009999999776482582"/>
      </geometry>
    </visual>
    <visual name="VIS_Alpha_Joints.029">
      <origin xyz="0.84638 -1.37197 -0.0116" rpy="0 0 0"/>
      <geometry>
        <mesh filename="package://user_avatar_ybot/meshes/visual/VIS_Alpha_Joints_029.dae" scale="0.009999999776482582 0.009999999776482582 0.009999999776482582"/>
      </geometry>
    </visual>
  </link>
  <link name="mixamorig_RightHandThumb4">
    <inertial>
      <mass value="0.01"/>
      <origin xyz="0 0 0" rpy="0 0 0"/>
      <inertia ixx="1.0" ixy="0.0" ixz="0.0" iyy="1.0" iyz="0.0" izz="1.0"/>
    </inertial>
  </link>
  <link name="mixamorig_RightHandIndex1">
    <inertial>
      <mass value="0.05"/>
      <origin xyz="0 0 0" rpy="0 0 0"/>
      <inertia ixx="1.0" ixy="0.0" ixz="0.0" iyy="1.0" iyz="0.0" izz="1.0"/>
    </inertial>
    <collision name="COL_Alpha_Surface.037_convex_hull">
      <origin xyz="0.86046 -1.43214  0.03102" rpy="0 0 0"/>
      <geometry>
        <mesh filename="package://user_avatar_ybot/meshes/collisions/COL_Alpha_Surface_037_convex_hull.dae" scale="0.009999999776482582 0.009999998845160007 0.009999999776482582"/>
      </geometry>
    </collision>
    <collision name="COL_Alpha_Joints.034_convex_hull">
      <origin xyz="0.86046 -1.43214  0.03102" rpy="0 0 0"/>
      <geometry>
        <mesh filename="package://user_avatar_ybot/meshes/collisions/COL_Alpha_Joints_034_convex_hull.dae" scale="0.009999999776482582 0.009999998845160007 0.009999999776482582"/>
      </geometry>
    </collision>
    <visual name="VIS_Alpha_Surface.037">
      <origin xyz="0.86046 -1.43214  0.03102" rpy="0 0 0"/>
      <geometry>
        <mesh filename="package://user_avatar_ybot/meshes/visual/VIS_Alpha_Surface_037.dae" scale="0.009999999776482582 0.009999999776482582 0.009999999776482582"/>
      </geometry>
    </visual>
    <visual name="VIS_Alpha_Joints.034">
      <origin xyz="0.86046 -1.43214  0.03102" rpy="0 0 0"/>
      <geometry>
        <mesh filename="package://user_avatar_ybot/meshes/visual/VIS_Alpha_Joints_034.dae" scale="0.009999999776482582 0.009999999776482582 0.009999999776482582"/>
      </geometry>
    </visual>
  </link>
  <link name="mixamorig_RightHandIndex2">
    <inertial>
      <mass value="0.05"/>
      <origin xyz="0 0 0" rpy="0 0 0"/>
      <inertia ixx="1.0" ixy="0.0" ixz="0.0" iyy="1.0" iyz="0.0" izz="1.0"/>
    </inertial>
    <collision name="COL_Alpha_Surface.044_convex_hull">
      <origin xyz="0.89938 -1.43214  0.03102" rpy="0 0 0"/>
      <geometry>
        <mesh filename="package://user_avatar_ybot/meshes/collisions/COL_Alpha_Surface_044_convex_hull.dae" scale="0.009999999776482582 0.009999999776482582 0.009999999776482582"/>
      </geometry>
    </collision>
    <collision name="COL_Alpha_Joints.033_convex_hull">
      <origin xyz="0.89938 -1.43214  0.03102" rpy="0 0 0"/>
      <geometry>
        <mesh filename="package://user_avatar_ybot/meshes/collisions/COL_Alpha_Joints_033_convex_hull.dae" scale="0.009999999776482582 0.009999999776482582 0.009999999776482582"/>
      </geometry>
    </collision>
    <visual name="VIS_Alpha_Surface.044">
      <origin xyz="0.89938 -1.43214  0.03102" rpy="0 0 0"/>
      <geometry>
        <mesh filename="package://user_avatar_ybot/meshes/visual/VIS_Alpha_Surface_044.dae" scale="0.009999999776482582 0.009999999776482582 0.009999999776482582"/>
      </geometry>
    </visual>
    <visual name="VIS_Alpha_Joints.033">
      <origin xyz="0.89938 -1.43214  0.03102" rpy="0 0 0"/>
      <geometry>
        <mesh filename="package://user_avatar_ybot/meshes/visual/VIS_Alpha_Joints_033.dae" scale="0.009999999776482582 0.009999999776482582 0.009999999776482582"/>
      </geometry>
    </visual>
  </link>
  <link name="mixamorig_RightHandIndex3">
    <inertial>
      <mass value="0.05"/>
      <origin xyz="0 0 0" rpy="0 0 0"/>
      <inertia ixx="1.0" ixy="0.0" ixz="0.0" iyy="1.0" iyz="0.0" izz="1.0"/>
    </inertial>
    <collision name="COL_Alpha_Surface.048_convex_hull">
      <origin xyz="0.93353 -1.43214  0.03102" rpy="0 0 0"/>
      <geometry>
        <mesh filename="package://user_avatar_ybot/meshes/collisions/COL_Alpha_Surface_048_convex_hull.dae" scale="0.009999999776482582 0.009999999776482582 0.009999999776482582"/>
      </geometry>
    </collision>
    <collision name="COL_Alpha_Joints.032_convex_hull">
      <origin xyz="0.93353 -1.43214  0.03102" rpy="0 0 0"/>
      <geometry>
        <mesh filename="package://user_avatar_ybot/meshes/collisions/COL_Alpha_Joints_032_convex_hull.dae" scale="0.009999999776482582 0.009999999776482582 0.009999999776482582"/>
      </geometry>
    </collision>
    <visual name="VIS_Alpha_Surface.048">
      <origin xyz="0.93353 -1.43214  0.03102" rpy="0 0 0"/>
      <geometry>
        <mesh filename="package://user_avatar_ybot/meshes/visual/VIS_Alpha_Surface_048.dae" scale="0.009999999776482582 0.009999999776482582 0.009999999776482582"/>
      </geometry>
    </visual>
    <visual name="VIS_Alpha_Joints.032">
      <origin xyz="0.93353 -1.43214  0.03102" rpy="0 0 0"/>
      <geometry>
        <mesh filename="package://user_avatar_ybot/meshes/visual/VIS_Alpha_Joints_032.dae" scale="0.009999999776482582 0.009999999776482582 0.009999999776482582"/>
      </geometry>
    </visual>
  </link>
  <link name="mixamorig_RightHandIndex4">
    <inertial>
      <mass value="0.01"/>
      <origin xyz="0 0 0" rpy="0 0 0"/>
      <inertia ixx="1.0" ixy="0.0" ixz="0.0" iyy="1.0" iyz="0.0" izz="1.0"/>
    </inertial>
  </link>
  <link name="mixamorig_RightHandRing1">
    <inertial>
      <mass value="0.05"/>
      <origin xyz="0 0 0" rpy="0 0 0"/>
      <inertia ixx="1.0" ixy="0.0" ixz="0.0" iyy="1.0" iyz="0.0" izz="1.0"/>
    </inertial>
    <collision name="COL_Alpha_Surface.039_convex_hull">
      <origin xyz="0.85926 -1.43455  0.08141" rpy="0 0 0"/>
      <geometry>
        <mesh filename="package://user_avatar_ybot/meshes/collisions/COL_Alpha_Surface_039_convex_hull.dae" scale="0.009999999776482582 0.009999998845160007 0.009999999776482582"/>
      </geometry>
    </collision>
    <collision name="COL_Alpha_Joints.038_convex_hull">
      <origin xyz="0.85926 -1.43455  0.08141" rpy="0 0 0"/>
      <geometry>
        <mesh filename="package://user_avatar_ybot/meshes/collisions/COL_Alpha_Joints_038_convex_hull.dae" scale="0.009999999776482582 0.009999998845160007 0.009999999776482582"/>
      </geometry>
    </collision>
    <visual name="VIS_Alpha_Surface.039">
      <origin xyz="0.85926 -1.43455  0.08141" rpy="0 0 0"/>
      <geometry>
        <mesh filename="package://user_avatar_ybot/meshes/visual/VIS_Alpha_Surface_039.dae" scale="0.009999999776482582 0.009999999776482582 0.009999999776482582"/>
      </geometry>
    </visual>
    <visual name="VIS_Alpha_Joints.038">
      <origin xyz="0.85926 -1.43455  0.08141" rpy="0 0 0"/>
      <geometry>
        <mesh filename="package://user_avatar_ybot/meshes/visual/VIS_Alpha_Joints_038.dae" scale="0.009999999776482582 0.009999999776482582 0.009999999776482582"/>
      </geometry>
    </visual>
  </link>
  <link name="mixamorig_RightHandRing2">
    <inertial>
      <mass value="0.05"/>
      <origin xyz="0 0 0" rpy="0 0 0"/>
      <inertia ixx="1.0" ixy="0.0" ixz="0.0" iyy="1.0" iyz="0.0" izz="1.0"/>
    </inertial>
    <collision name="COL_Alpha_Surface.042_convex_hull">
      <origin xyz="0.89528 -1.43455  0.08141" rpy="0 0 0"/>
      <geometry>
        <mesh filename="package://user_avatar_ybot/meshes/collisions/COL_Alpha_Surface_042_convex_hull.dae" scale="0.009999999776482582 0.009999998845160007 0.009999999776482582"/>
      </geometry>
    </collision>
    <collision name="COL_Alpha_Joints.039_convex_hull">
      <origin xyz="0.89528 -1.43455  0.08141" rpy="0 0 0"/>
      <geometry>
        <mesh filename="package://user_avatar_ybot/meshes/collisions/COL_Alpha_Joints_039_convex_hull.dae" scale="0.009999999776482582 0.009999998845160007 0.009999999776482582"/>
      </geometry>
    </collision>
    <visual name="VIS_Alpha_Surface.042">
      <origin xyz="0.89528 -1.43455  0.08141" rpy="0 0 0"/>
      <geometry>
        <mesh filename="package://user_avatar_ybot/meshes/visual/VIS_Alpha_Surface_042.dae" scale="0.009999999776482582 0.009999999776482582 0.009999999776482582"/>
      </geometry>
    </visual>
    <visual name="VIS_Alpha_Joints.039">
      <origin xyz="0.89528 -1.43455  0.08141" rpy="0 0 0"/>
      <geometry>
        <mesh filename="package://user_avatar_ybot/meshes/visual/VIS_Alpha_Joints_039.dae" scale="0.009999999776482582 0.009999999776482582 0.009999999776482582"/>
      </geometry>
    </visual>
  </link>
  <link name="mixamorig_RightHandRing3">
    <inertial>
      <mass value="0.05"/>
      <origin xyz="0 0 0" rpy="0 0 0"/>
      <inertia ixx="1.0" ixy="0.0" ixz="0.0" iyy="1.0" iyz="0.0" izz="1.0"/>
    </inertial>
    <collision name="COL_Alpha_Surface.046_convex_hull">
      <origin xyz="0.92835 -1.43455  0.08141" rpy="0 0 0"/>
      <geometry>
        <mesh filename="package://user_avatar_ybot/meshes/collisions/COL_Alpha_Surface_046_convex_hull.dae" scale="0.009999999776482582 0.009999999776482582 0.009999999776482582"/>
      </geometry>
    </collision>
    <collision name="COL_Alpha_Joints.040_convex_hull">
      <origin xyz="0.92835 -1.43455  0.08141" rpy="0 0 0"/>
      <geometry>
        <mesh filename="package://user_avatar_ybot/meshes/collisions/COL_Alpha_Joints_040_convex_hull.dae" scale="0.009999999776482582 0.009999999776482582 0.009999999776482582"/>
      </geometry>
    </collision>
    <visual name="VIS_Alpha_Surface.046">
      <origin xyz="0.92835 -1.43455  0.08141" rpy="0 0 0"/>
      <geometry>
        <mesh filename="package://user_avatar_ybot/meshes/visual/VIS_Alpha_Surface_046.dae" scale="0.009999999776482582 0.009999999776482582 0.009999999776482582"/>
      </geometry>
    </visual>
    <visual name="VIS_Alpha_Joints.040">
      <origin xyz="0.92835 -1.43455  0.08141" rpy="0 0 0"/>
      <geometry>
        <mesh filename="package://user_avatar_ybot/meshes/visual/VIS_Alpha_Joints_040.dae" scale="0.009999999776482582 0.009999999776482582 0.009999999776482582"/>
      </geometry>
    </visual>
  </link>
  <link name="mixamorig_RightHandRing4">
    <inertial>
      <mass value="0.01"/>
      <origin xyz="0 0 0" rpy="0 0 0"/>
      <inertia ixx="1.0" ixy="0.0" ixz="0.0" iyy="1.0" iyz="0.0" izz="1.0"/>
    </inertial>
  </link>
  <link name="mixamorig_RightHandPinky1">
    <inertial>
      <mass value="0.05"/>
      <origin xyz="0 0 0" rpy="0 0 0"/>
      <inertia ixx="1.0" ixy="0.0" ixz="0.0" iyy="1.0" iyz="0.0" izz="1.0"/>
    </inertial>
    <collision name="COL_Alpha_Surface.040_convex_hull">
      <origin xyz="0.84688 -1.43219  0.1065" rpy="0 0 0"/>
      <geometry>
        <mesh filename="package://user_avatar_ybot/meshes/collisions/COL_Alpha_Surface_040_convex_hull.dae" scale="0.009999999776482582 0.009999998845160007 0.009999999776482582"/>
      </geometry>
    </collision>
    <collision name="COL_Alpha_Joints.041_convex_hull">
      <origin xyz="0.84688 -1.43219  0.1065" rpy="0 0 0"/>
      <geometry>
        <mesh filename="package://user_avatar_ybot/meshes/collisions/COL_Alpha_Joints_041_convex_hull.dae" scale="0.009999999776482582 0.009999998845160007 0.009999999776482582"/>
      </geometry>
    </collision>
    <visual name="VIS_Alpha_Surface.040">
      <origin xyz="0.84688 -1.43219  0.1065" rpy="0 0 0"/>
      <geometry>
        <mesh filename="package://user_avatar_ybot/meshes/visual/VIS_Alpha_Surface_040.dae" scale="0.009999999776482582 0.009999999776482582 0.009999999776482582"/>
      </geometry>
    </visual>
    <visual name="VIS_Alpha_Joints.041">
      <origin xyz="0.84688 -1.43219  0.1065" rpy="0 0 0"/>
      <geometry>
        <mesh filename="package://user_avatar_ybot/meshes/visual/VIS_Alpha_Joints_041.dae" scale="0.009999999776482582 0.009999999776482582 0.009999999776482582"/>
      </geometry>
    </visual>
  </link>
  <link name="mixamorig_RightHandPinky2">
    <inertial>
      <mass value="0.05"/>
      <origin xyz="0 0 0" rpy="0 0 0"/>
      <inertia ixx="1.0" ixy="0.0" ixz="0.0" iyy="1.0" iyz="0.0" izz="1.0"/>
    </inertial>
    <collision name="COL_Alpha_Surface.041_convex_hull">
      <origin xyz="0.88824 -1.43219  0.1065" rpy="0 0 0"/>
      <geometry>
        <mesh filename="package://user_avatar_ybot/meshes/collisions/COL_Alpha_Surface_041_convex_hull.dae" scale="0.009999999776482582 0.009999998845160007 0.009999999776482582"/>
      </geometry>
    </collision>
    <collision name="COL_Alpha_Joints.042_convex_hull">
      <origin xyz="0.88824 -1.43219  0.1065" rpy="0 0 0"/>
      <geometry>
        <mesh filename="package://user_avatar_ybot/meshes/collisions/COL_Alpha_Joints_042_convex_hull.dae" scale="0.009999999776482582 0.009999998845160007 0.009999999776482582"/>
      </geometry>
    </collision>
    <visual name="VIS_Alpha_Surface.041">
      <origin xyz="0.88824 -1.43219  0.1065" rpy="0 0 0"/>
      <geometry>
        <mesh filename="package://user_avatar_ybot/meshes/visual/VIS_Alpha_Surface_041.dae" scale="0.009999999776482582 0.009999999776482582 0.009999999776482582"/>
      </geometry>
    </visual>
    <visual name="VIS_Alpha_Joints.042">
      <origin xyz="0.88824 -1.43219  0.1065" rpy="0 0 0"/>
      <geometry>
        <mesh filename="package://user_avatar_ybot/meshes/visual/VIS_Alpha_Joints_042.dae" scale="0.009999999776482582 0.009999999776482582 0.009999999776482582"/>
      </geometry>
    </visual>
  </link>
  <link name="mixamorig_RightHandPinky3">
    <inertial>
      <mass value="0.05"/>
      <origin xyz="0 0 0" rpy="0 0 0"/>
      <inertia ixx="1.0" ixy="0.0" ixz="0.0" iyy="1.0" iyz="0.0" izz="1.0"/>
    </inertial>
    <collision name="COL_Alpha_Surface.045_convex_hull">
      <origin xyz="0.91419 -1.43219  0.1065" rpy="0 0 0"/>
      <geometry>
        <mesh filename="package://user_avatar_ybot/meshes/collisions/COL_Alpha_Surface_045_convex_hull.dae" scale="0.009999999776482582 0.009999999776482582 0.009999999776482582"/>
      </geometry>
    </collision>
    <collision name="COL_Alpha_Joints.043_convex_hull">
      <origin xyz="0.91419 -1.43219  0.1065" rpy="0 0 0"/>
      <geometry>
        <mesh filename="package://user_avatar_ybot/meshes/collisions/COL_Alpha_Joints_043_convex_hull.dae" scale="0.009999999776482582 0.009999999776482582 0.009999999776482582"/>
      </geometry>
    </collision>
    <visual name="VIS_Alpha_Surface.045">
      <origin xyz="0.91419 -1.43219  0.1065" rpy="0 0 0"/>
      <geometry>
        <mesh filename="package://user_avatar_ybot/meshes/visual/VIS_Alpha_Surface_045.dae" scale="0.009999999776482582 0.009999999776482582 0.009999999776482582"/>
      </geometry>
    </visual>
    <visual name="VIS_Alpha_Joints.043">
      <origin xyz="0.91419 -1.43219  0.1065" rpy="0 0 0"/>
      <geometry>
        <mesh filename="package://user_avatar_ybot/meshes/visual/VIS_Alpha_Joints_043.dae" scale="0.009999999776482582 0.009999999776482582 0.009999999776482582"/>
      </geometry>
    </visual>
  </link>
  <link name="mixamorig_RightHandPinky4">
    <inertial>
      <mass value="0.01"/>
      <origin xyz="0 0 0" rpy="0 0 0"/>
      <inertia ixx="1.0" ixy="0.0" ixz="0.0" iyy="1.0" iyz="0.0" izz="1.0"/>
    </inertial>
  </link>
  <link name="mixamorig_RightUpLeg">
    <inertial>
      <mass value="7.0"/>
      <origin xyz="0 0 0" rpy="0 0 0"/>
      <inertia ixx="1.0" ixy="0.0" ixz="0.0" iyy="1.0" iyz="0.0" izz="1.0"/>
    </inertial>
    <collision name="COL_Alpha_Surface.008_convex_hull">
      <origin xyz="0.09124 -0.93015 -0.00191" rpy="0 0 0"/>
      <geometry>
        <mesh filename="package://user_avatar_ybot/meshes/collisions/COL_Alpha_Surface_008_convex_hull.dae" scale="0.009999999776482582 0.009999999776482582 0.009999999776482582"/>
      </geometry>
    </collision>
    <collision name="COL_Alpha_Joints.050_convex_hull">
      <origin xyz="0.09124 -0.93015 -0.00191" rpy="0 0 0"/>
      <geometry>
        <mesh filename="package://user_avatar_ybot/meshes/collisions/COL_Alpha_Joints_050_convex_hull.dae" scale="0.009999999776482582 0.009999999776482582 0.009999999776482582"/>
      </geometry>
    </collision>
    <visual name="VIS_Alpha_Surface.008">
      <origin xyz="0.09124 -0.93015 -0.00191" rpy="0 0 0"/>
      <geometry>
        <mesh filename="package://user_avatar_ybot/meshes/visual/VIS_Alpha_Surface_008.dae" scale="0.009999999776482582 0.009999999776482582 0.009999999776482582"/>
      </geometry>
    </visual>
    <visual name="VIS_Alpha_Joints.050">
      <origin xyz="0.09124 -0.93015 -0.00191" rpy="0 0 0"/>
      <geometry>
        <mesh filename="package://user_avatar_ybot/meshes/visual/VIS_Alpha_Joints_050.dae" scale="0.009999999776482582 0.009999999776482582 0.009999999776482582"/>
      </geometry>
    </visual>
  </link>
  <link name="mixamorig_RightUpLeg_JointLink1">
    <inertial>
      <mass value="0.01"/>
      <origin xyz="0 0 0" rpy="0 0 0"/>
      <inertia ixx="1.0" ixy="0.0" ixz="0.0" iyy="1.0" iyz="0.0" izz="1.0"/>
    </inertial>
  </link>
  <link name="mixamorig_RightUpLeg_JointLink2">
    <inertial>
      <mass value="0.01"/>
      <origin xyz="0 0 0" rpy="0 0 0"/>
      <inertia ixx="1.0" ixy="0.0" ixz="0.0" iyy="1.0" iyz="0.0" izz="1.0"/>
    </inertial>
  </link>
  <link name="mixamorig_RightLeg">
    <inertial>
      <mass value="5.0"/>
      <origin xyz="0 0 0" rpy="0 0 0"/>
      <inertia ixx="1.0" ixy="0.0" ixz="0.0" iyy="1.0" iyz="0.0" izz="1.0"/>
    </inertial>
    <collision name="COL_Alpha_Joints.046_convex_hull">
      <origin xyz="0.09369 -0.5242   0.00322" rpy="0 0 0"/>
      <geometry>
        <mesh filename="package://user_avatar_ybot/meshes/collisions/COL_Alpha_Joints_046_convex_hull.dae" scale="0.009999999776482582 0.009999999776482582 0.009999999776482582"/>
      </geometry>
    </collision>
    <collision name="COL_Alpha_Surface.005_convex_hull">
      <origin xyz="0.09369 -0.5242   0.00322" rpy="0 0 0"/>
      <geometry>
        <mesh filename="package://user_avatar_ybot/meshes/collisions/COL_Alpha_Surface_005_convex_hull.dae" scale="0.009999999776482582 0.009999999776482582 0.009999999776482582"/>
      </geometry>
    </collision>
    <visual name="VIS_Alpha_Joints.046">
      <origin xyz="0.09369 -0.5242   0.00322" rpy="0 0 0"/>
      <geometry>
        <mesh filename="package://user_avatar_ybot/meshes/visual/VIS_Alpha_Joints_046.dae" scale="0.009999999776482582 0.009999999776482582 0.009999999776482582"/>
      </geometry>
    </visual>
    <visual name="VIS_Alpha_Surface.005">
      <origin xyz="0.09369 -0.5242   0.00322" rpy="0 0 0"/>
      <geometry>
        <mesh filename="package://user_avatar_ybot/meshes/visual/VIS_Alpha_Surface_005.dae" scale="0.009999999776482582 0.009999999776482582 0.009999999776482582"/>
      </geometry>
    </visual>
  </link>
  <link name="mixamorig_RightFoot">
    <inertial>
      <mass value="1.0"/>
      <origin xyz="0 0 0" rpy="0 0 0"/>
      <inertia ixx="1.0" ixy="0.0" ixz="0.0" iyy="1.0" iyz="0.0" izz="1.0"/>
    </inertial>
    <collision name="COL_Alpha_Joints.045_convex_hull">
      <origin xyz="0.09124 -0.10372  0.02383" rpy="0 0 0"/>
      <geometry>
        <mesh filename="package://user_avatar_ybot/meshes/collisions/COL_Alpha_Joints_045_convex_hull.dae" scale="0.009999999776482582 0.009999999776482582 0.009999999776482582"/>
      </geometry>
    </collision>
    <collision name="COL_Alpha_Surface.004_convex_hull">
      <origin xyz="0.09124 -0.10372  0.02383" rpy="0 0 0"/>
      <geometry>
        <mesh filename="package://user_avatar_ybot/meshes/collisions/COL_Alpha_Surface_004_convex_hull.dae" scale="0.009999999776482582 0.009999999776482582 0.009999999776482582"/>
      </geometry>
    </collision>
    <visual name="VIS_Alpha_Joints.045">
      <origin xyz="0.09124 -0.10372  0.02383" rpy="0 0 0"/>
      <geometry>
        <mesh filename="package://user_avatar_ybot/meshes/visual/VIS_Alpha_Joints_045.dae" scale="0.009999999776482582 0.009999999776482582 0.009999999776482582"/>
      </geometry>
    </visual>
    <visual name="VIS_Alpha_Surface.004">
      <origin xyz="0.09124 -0.10372  0.02383" rpy="0 0 0"/>
      <geometry>
        <mesh filename="package://user_avatar_ybot/meshes/visual/VIS_Alpha_Surface_004.dae" scale="0.009999999776482582 0.009999999776482582 0.009999999776482582"/>
      </geometry>
    </visual>
  </link>
  <link name="mixamorig_RightToeBase">
    <inertial>
      <mass value="0.05"/>
      <origin xyz="0 0 0" rpy="0 0 0"/>
      <inertia ixx="1.0" ixy="0.0" ixz="0.0" iyy="1.0" iyz="0.0" izz="1.0"/>
    </inertial>
    <collision name="COL_Alpha_Surface.003_convex_hull">
      <origin xyz="0.09497  0.00119 -0.10257" rpy="0 0 0"/>
      <geometry>
        <mesh filename="package://user_avatar_ybot/meshes/collisions/COL_Alpha_Surface_003_convex_hull.dae" scale="0.009999999776482582 0.009999999776482582 0.009999999776482582"/>
      </geometry>
    </collision>
    <collision name="COL_Alpha_Joints.044_convex_hull">
      <origin xyz="0.09497  0.00119 -0.10257" rpy="0 0 0"/>
      <geometry>
        <mesh filename="package://user_avatar_ybot/meshes/collisions/COL_Alpha_Joints_044_convex_hull.dae" scale="0.009999999776482582 0.009999999776482582 0.009999999776482582"/>
      </geometry>
    </collision>
    <visual name="VIS_Alpha_Surface.003">
      <origin xyz="0.09497  0.00119 -0.10257" rpy="0 0 0"/>
      <geometry>
        <mesh filename="package://user_avatar_ybot/meshes/visual/VIS_Alpha_Surface_003.dae" scale="0.009999999776482582 0.009999999776482582 0.009999999776482582"/>
      </geometry>
    </visual>
    <visual name="VIS_Alpha_Joints.044">
      <origin xyz="0.09497  0.00119 -0.10257" rpy="0 0 0"/>
      <geometry>
        <mesh filename="package://user_avatar_ybot/meshes/visual/VIS_Alpha_Joints_044.dae" scale="0.009999999776482582 0.009999999776482582 0.009999999776482582"/>
      </geometry>
    </visual>
  </link>
  <link name="mixamorig_RightToe_End">
    <inertial>
      <mass value="0.05"/>
      <origin xyz="0 0 0" rpy="0 0 0"/>
      <inertia ixx="1.0" ixy="0.0" ixz="0.0" iyy="1.0" iyz="0.0" izz="1.0"/>
    </inertial>
  </link>
  <link name="mixamorig_LeftUpLeg">
    <inertial>
      <mass value="7.0"/>
      <origin xyz="0 0 0" rpy="0 0 0"/>
      <inertia ixx="1.0" ixy="0.0" ixz="0.0" iyy="1.0" iyz="0.0" izz="1.0"/>
    </inertial>
    <collision name="COL_Alpha_Joints.007_convex_hull">
      <origin xyz="-0.09124 -0.93015 -0.00191" rpy="0 0 0"/>
      <geometry>
        <mesh filename="package://user_avatar_ybot/meshes/collisions/COL_Alpha_Joints_007_convex_hull.dae" scale="0.009999999776482582 0.009999999776482582 0.009999999776482582"/>
      </geometry>
    </collision>
    <collision name="COL_Alpha_Surface.007_convex_hull">
      <origin xyz="-0.09124 -0.93015 -0.00191" rpy="0 0 0"/>
      <geometry>
        <mesh filename="package://user_avatar_ybot/meshes/collisions/COL_Alpha_Surface_007_convex_hull.dae" scale="0.009999999776482582 0.009999999776482582 0.009999999776482582"/>
      </geometry>
    </collision>
    <visual name="VIS_Alpha_Joints.007">
      <origin xyz="-0.09124 -0.93015 -0.00191" rpy="0 0 0"/>
      <geometry>
        <mesh filename="package://user_avatar_ybot/meshes/visual/VIS_Alpha_Joints_007.dae" scale="0.009999999776482582 0.009999999776482582 0.009999999776482582"/>
      </geometry>
    </visual>
    <visual name="VIS_Alpha_Surface.007">
      <origin xyz="-0.09124 -0.93015 -0.00191" rpy="0 0 0"/>
      <geometry>
        <mesh filename="package://user_avatar_ybot/meshes/visual/VIS_Alpha_Surface_007.dae" scale="0.009999999776482582 0.009999999776482582 0.009999999776482582"/>
      </geometry>
    </visual>
  </link>
  <link name="mixamorig_LeftUpLeg_JointLink1">
    <inertial>
      <mass value="0.01"/>
      <origin xyz="0 0 0" rpy="0 0 0"/>
      <inertia ixx="1.0" ixy="0.0" ixz="0.0" iyy="1.0" iyz="0.0" izz="1.0"/>
    </inertial>
  </link>
  <link name="mixamorig_LeftUpLeg_JointLink2">
    <inertial>
      <mass value="0.01"/>
      <origin xyz="0 0 0" rpy="0 0 0"/>
      <inertia ixx="1.0" ixy="0.0" ixz="0.0" iyy="1.0" iyz="0.0" izz="1.0"/>
    </inertial>
  </link>
  <link name="mixamorig_LeftLeg">
    <inertial>
      <mass value="5.0"/>
      <origin xyz="0 0 0" rpy="0 0 0"/>
      <inertia ixx="1.0" ixy="0.0" ixz="0.0" iyy="1.0" iyz="0.0" izz="1.0"/>
    </inertial>
    <collision name="COL_Alpha_Joints.006_convex_hull">
      <origin xyz="-0.09369 -0.5242   0.00325" rpy="0 0 0"/>
      <geometry>
        <mesh filename="package://user_avatar_ybot/meshes/collisions/COL_Alpha_Joints_006_convex_hull.dae" scale="0.009999999776482582 0.009999999776482582 0.009999999776482582"/>
      </geometry>
    </collision>
    <collision name="COL_Alpha_Surface.006_convex_hull">
      <origin xyz="-0.09369 -0.5242   0.00325" rpy="0 0 0"/>
      <geometry>
        <mesh filename="package://user_avatar_ybot/meshes/collisions/COL_Alpha_Surface_006_convex_hull.dae" scale="0.009999999776482582 0.009999999776482582 0.009999999776482582"/>
      </geometry>
    </collision>
    <visual name="VIS_Alpha_Joints.006">
      <origin xyz="-0.09369 -0.5242   0.00325" rpy="0 0 0"/>
      <geometry>
        <mesh filename="package://user_avatar_ybot/meshes/visual/VIS_Alpha_Joints_006.dae" scale="0.009999999776482582 0.009999999776482582 0.009999999776482582"/>
      </geometry>
    </visual>
    <visual name="VIS_Alpha_Surface.006">
      <origin xyz="-0.09369 -0.5242   0.00325" rpy="0 0 0"/>
      <geometry>
        <mesh filename="package://user_avatar_ybot/meshes/visual/VIS_Alpha_Surface_006.dae" scale="0.009999999776482582 0.009999999776482582 0.009999999776482582"/>
      </geometry>
    </visual>
  </link>
  <link name="mixamorig_LeftFoot">
    <inertial>
      <mass value="1.0"/>
      <origin xyz="0 0 0" rpy="0 0 0"/>
      <inertia ixx="1.0" ixy="0.0" ixz="0.0" iyy="1.0" iyz="0.0" izz="1.0"/>
    </inertial>
    <collision name="COL_Alpha_Joints.005_convex_hull">
      <origin xyz="-0.09124 -0.10372  0.02383" rpy="0 0 0"/>
      <geometry>
        <mesh filename="package://user_avatar_ybot/meshes/collisions/COL_Alpha_Joints_005_convex_hull.dae" scale="0.009999999776482582 0.009999999776482582 0.009999999776482582"/>
      </geometry>
    </collision>
    <collision name="COL_Alpha_Surface.002_convex_hull">
      <origin xyz="-0.09124 -0.10372  0.02383" rpy="0 0 0"/>
      <geometry>
        <mesh filename="package://user_avatar_ybot/meshes/collisions/COL_Alpha_Surface_002_convex_hull.dae" scale="0.009999999776482582 0.009999999776482582 0.009999999776482582"/>
      </geometry>
    </collision>
    <visual name="VIS_Alpha_Joints.005">
      <origin xyz="-0.09124 -0.10372  0.02383" rpy="0 0 0"/>
      <geometry>
        <mesh filename="package://user_avatar_ybot/meshes/visual/VIS_Alpha_Joints_005.dae" scale="0.009999999776482582 0.009999999776482582 0.009999999776482582"/>
      </geometry>
    </visual>
    <visual name="VIS_Alpha_Surface.002">
      <origin xyz="-0.09124 -0.10372  0.02383" rpy="0 0 0"/>
      <geometry>
        <mesh filename="package://user_avatar_ybot/meshes/visual/VIS_Alpha_Surface_002.dae" scale="0.009999999776482582 0.009999999776482582 0.009999999776482582"/>
      </geometry>
    </visual>
  </link>
  <link name="mixamorig_LeftToeBase">
    <inertial>
      <mass value="0.05"/>
      <origin xyz="0 0 0" rpy="0 0 0"/>
      <inertia ixx="1.0" ixy="0.0" ixz="0.0" iyy="1.0" iyz="0.0" izz="1.0"/>
    </inertial>
    <collision name="COL_Alpha_Surface_convex_hull">
      <origin xyz="-0.09497  0.00119 -0.10257" rpy="0 0 0"/>
      <geometry>
        <mesh filename="package://user_avatar_ybot/meshes/collisions/COL_Alpha_Surface_convex_hull.dae" scale="0.009999999776482582 0.009999999776482582 0.009999999776482582"/>
      </geometry>
    </collision>
    <collision name="COL_Alpha_Joints.004_convex_hull">
      <origin xyz="-0.09497  0.00119 -0.10257" rpy="0 0 0"/>
      <geometry>
        <mesh filename="package://user_avatar_ybot/meshes/collisions/COL_Alpha_Joints_004_convex_hull.dae" scale="0.009999999776482582 0.009999999776482582 0.009999999776482582"/>
      </geometry>
    </collision>
    <visual name="VIS_Alpha_Surface">
      <origin xyz="-0.09497  0.00119 -0.10257" rpy="0 0 0"/>
      <geometry>
        <mesh filename="package://user_avatar_ybot/meshes/visual/VIS_Alpha_Surface.dae" scale="0.009999999776482582 0.009999999776482582 0.009999999776482582"/>
      </geometry>
    </visual>
    <visual name="VIS_Alpha_Joints.004">
      <origin xyz="-0.09497  0.00119 -0.10257" rpy="0 0 0"/>
      <geometry>
        <mesh filename="package://user_avatar_ybot/meshes/visual/VIS_Alpha_Joints_004.dae" scale="0.009999999776482582 0.009999999776482582 0.009999999776482582"/>
      </geometry>
    </visual>
  </link>
  <link name="mixamorig_LeftToe_End">
    <inertial>
      <mass value="0.01"/>
      <origin xyz="0 0 0" rpy="0 0 0"/>
      <inertia ixx="1.0" ixy="0.0" ixz="0.0" iyy="1.0" iyz="0.0" izz="1.0"/>
    </inertial>
  </link>
</robot>
